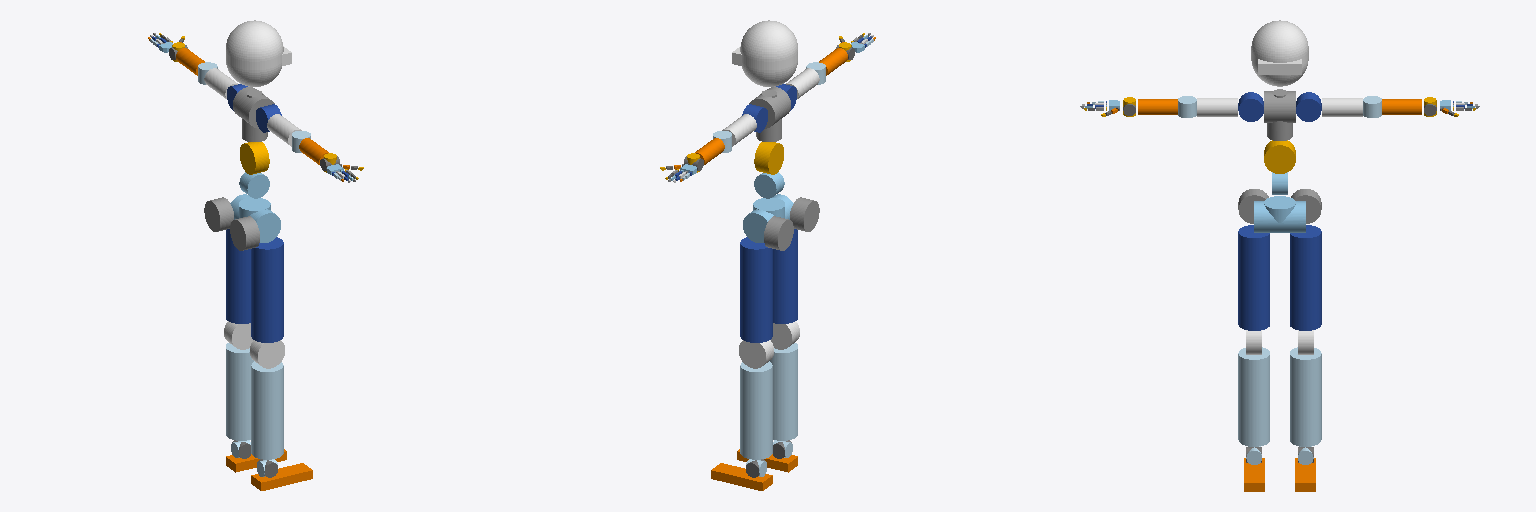
--- Render facts (derived) ---
3 views of the same robot in one strip: view 1: azimuth 30°, elevation 25°; view 2: azimuth 150°, elevation 25°; view 3: azimuth 270°, elevation 25° (orthographic).
Robot: miku — 75 links, 74 joints (74 revolute); root link pelvis; default pose: every joint at zero.
Links seen in each view (by area): view 1: head, right_hip_roll, right_knee_pitch, left_knee_pitch, left_hip_roll, pelvis, torso, right_foot, right_hip_pitch, waist_pitch, left_hip_pitch, right_hip_yaw (+4 smaller); view 2: head, left_hip_roll, left_knee_pitch, right_knee_pitch, right_hip_roll, pelvis, torso, left_foot, left_hip_pitch, waist_pitch, right_hip_pitch, left_hip_yaw (+4 smaller); view 3: left_hip_roll, right_hip_roll, head, left_knee_pitch, right_knee_pitch, pelvis, torso, waist_pitch, left_shoulder_roll, right_shoulder_roll, left_shoulder_pitch, left_elbow_pitch (+6 smaller).
Boxes of the visible links, x1,y1,x2,y2 form: head: (226,20,291,86); right_hip_roll: (251,237,283,342); right_knee_pitch: (251,361,283,459); left_knee_pitch: (226,343,253,440); left_hip_roll: (226,229,250,323); pelvis: (230,194,280,242); torso: (233,87,274,141); right_foot: (251,463,312,490); right_hip_pitch: (230,216,259,250); waist_pitch: (240,142,269,174); left_hip_pitch: (204,197,233,231); right_hip_yaw: (250,340,284,368); head: (732,20,797,86); left_hip_roll: (740,237,772,342); left_knee_pitch: (740,361,772,459); right_knee_pitch: (770,343,797,440); right_hip_roll: (773,229,797,323); pelvis: (743,194,793,242); torso: (749,87,790,141); left_foot: (711,463,772,490); left_hip_pitch: (764,216,793,250); waist_pitch: (754,142,783,174); right_hip_pitch: (790,197,819,231); left_hip_yaw: (739,340,773,368); left_hip_roll: (1290,225,1321,330); right_hip_roll: (1238,225,1269,330); head: (1251,20,1308,86); left_knee_pitch: (1290,347,1321,446); right_knee_pitch: (1238,347,1269,446); pelvis: (1254,196,1305,232); torso: (1264,89,1295,140); waist_pitch: (1264,140,1295,173); left_shoulder_roll: (1322,98,1362,116); right_shoulder_roll: (1197,98,1237,116); left_shoulder_pitch: (1296,92,1321,121); left_elbow_pitch: (1382,99,1421,114).
Bounding box of the posed robot: 0.25 × 1.25 × 1.55 m (x, y, z).
Meshes: 75 distinct files referenced, 75 mesh visuals loaded (75 binary STL).

The robot description file, URDF, robot "miku":
<?xml version="1.0" ?>
<!-- Generated using onshape-to-robot -->
<!-- Onshape document_id: e9ee61a2e2678af2088d9f31 -->
<robot name="miku">
  <!-- Link pelvis -->
  <link name="pelvis">
    <inertial>
      <origin xyz="8.977e-09 -0 0.00186483" rpy="0 0 0"/>
      <mass value="1.63184"/>
      <inertia ixx="0.00445142" ixy="4.71e-10" ixz="-1.682e-09" iyy="0.00217002" iyz="0" izz="0.00442459"/>
    </inertial>
    <!-- Part pelvis_parts -->
    <collision>
      <origin xyz="0 0 0.05" rpy="0 -0 -1.5708"/>
      <geometry>
        <cylinder length="0.1" radius="0.05"/>
      </geometry>
    </collision>
    <collision>
      <origin xyz="0 0 0" rpy="1.5708 1.5708 0"/>
      <geometry>
        <cylinder length="0.16" radius="0.05"/>
      </geometry>
    </collision>
    <visual>
      <origin xyz="8.977e-09 -0 0.00186483" rpy="0 -0 0"/>
      <geometry>
        <mesh filename="../meshes/pelvis_visual.stl"/>
      </geometry>
      <material name="pelvis_parts_material">
        <color rgba="0.615686 0.811765 0.929412 1"/>
      </material>
    </visual>
  </link>
  <!-- Link left_hip_pitch -->
  <link name="left_hip_pitch">
    <inertial>
      <origin xyz="-0.08 -0 -0" rpy="0 0 0"/>
      <mass value="0.486947"/>
      <inertia ixx="0.000608684" ixy="0" ixz="-0" iyy="0.000405789" iyz="0" izz="0.000405789"/>
    </inertial>
    <!-- Part left_hip_pitch_parts -->
    <visual>
      <origin xyz="-0.08 -0 0" rpy="1.5708 0 0"/>
      <geometry>
        <mesh filename="../meshes/left_hip_pitch_visual.stl"/>
      </geometry>
      <material name="left_hip_pitch_parts_material">
        <color rgba="0.647059 0.647059 0.647059 1"/>
      </material>
    </visual>
  </link>
  <!-- Link left_hip_roll -->
  <link name="left_hip_roll">
    <inertial>
      <origin xyz="0 0.21 -0" rpy="0 0 0"/>
      <mass value="3.11646"/>
      <inertia ixx="0.0285416" ixy="-0" ixz="0" iyy="0.00389557" iyz="0" izz="0.0285416"/>
    </inertial>
    <!-- Part left_hip_roll_parts -->
    <collision>
      <origin xyz="0 0.21 -0" rpy="1.5708 -0 -0"/>
      <geometry>
        <cylinder length="0.2" radius="0.05"/>
      </geometry>
    </collision>
    <visual>
      <origin xyz="0 0.21 -0" rpy="1.5708 -1.5708 0"/>
      <geometry>
        <mesh filename="../meshes/left_hip_roll_visual.stl"/>
      </geometry>
      <material name="left_hip_roll_parts_material">
        <color rgba="0.231373 0.380392 0.705882 1"/>
      </material>
    </visual>
  </link>
  <!-- Link left_hip_yaw -->
  <link name="left_hip_yaw">
    <inertial>
      <origin xyz="-0 -0 -0.42" rpy="0 0 0"/>
      <mass value="0.486947"/>
      <inertia ixx="0.000405789" ixy="0" ixz="-0" iyy="0.000608684" iyz="-0" izz="0.000405789"/>
    </inertial>
    <!-- Part left_hip_yaw_parts -->
    <visual>
      <origin xyz="-0 -0 -0.42" rpy="0 -0 0"/>
      <geometry>
        <mesh filename="../meshes/left_hip_yaw_visual.stl"/>
      </geometry>
      <material name="left_hip_yaw_parts_material">
        <color rgba="0.917647 0.917647 0.917647 1"/>
      </material>
    </visual>
  </link>
  <!-- Link left_knee_pitch -->
  <link name="left_knee_pitch">
    <inertial>
      <origin xyz="0 0.2 -0" rpy="0 0 0"/>
      <mass value="2.92168"/>
      <inertia ixx="0.0237387" ixy="0" ixz="0" iyy="0.0036521" iyz="0" izz="0.0237387"/>
    </inertial>
    <!-- Part left_knee_pitch_parts -->
    <collision>
      <origin xyz="0 0.2 -0" rpy="1.5708 1.5708 0"/>
      <geometry>
        <cylinder length="0.16" radius="0.05"/>
      </geometry>
    </collision>
    <visual>
      <origin xyz="0 0.2 -0" rpy="1.5708 -0 0"/>
      <geometry>
        <mesh filename="../meshes/left_knee_pitch_visual.stl"/>
      </geometry>
      <material name="left_knee_pitch_parts_material">
        <color rgba="0.768627 0.886275 0.952941 1"/>
      </material>
    </visual>
  </link>
  <!-- Link left_ankle_yaw -->
  <link name="left_ankle_yaw">
    <inertial>
      <origin xyz="0 -0 0" rpy="0 0 0"/>
      <mass value="0.121737"/>
      <inertia ixx="3.80427e-05" ixy="-0" ixz="-0" iyy="4.43832e-05" iyz="0" izz="4.43832e-05"/>
    </inertial>
    <!-- Part left_ankle_yaw_parts -->
    <visual>
      <origin xyz="0 -0 0" rpy="0 0 0"/>
      <geometry>
        <mesh filename="../meshes/left_ankle_yaw_visual.stl"/>
      </geometry>
      <material name="left_ankle_yaw_parts_material">
        <color rgba="0.768627 0.886275 0.952941 1"/>
      </material>
    </visual>
  </link>
  <!-- Link left_ankle_roll -->
  <link name="left_ankle_roll">
    <inertial>
      <origin xyz="0 -0 0" rpy="0 0 0"/>
      <mass value="0.121737"/>
      <inertia ixx="3.80427e-05" ixy="-0" ixz="-0" iyy="4.43832e-05" iyz="-0" izz="4.43832e-05"/>
    </inertial>
    <!-- Part left_ankle_roll_parts -->
    <visual>
      <origin xyz="0 -0 0" rpy="1.5708 -1.5708 0"/>
      <geometry>
        <mesh filename="../meshes/left_ankle_roll_visual.stl"/>
      </geometry>
      <material name="left_ankle_roll_parts_material">
        <color rgba="0.498039 0.498039 0.498039 1"/>
      </material>
    </visual>
  </link>
  <!-- Link left_foot -->
  <link name="left_foot">
    <inertial>
      <origin xyz="0.0525 0.045 -0" rpy="0 0 0"/>
      <mass value="0.433566"/>
      <inertia ixx="0.000175919" ixy="-0" ixz="-0" iyy="0.00137997" iyz="-0" izz="0.00126908"/>
    </inertial>
    <!-- Part left_foot_parts -->
    <collision>
      <origin xyz="0.052 0.045 -0" rpy="1.5708 1.5708 0"/>
      <geometry>
        <box size="0.063 0.185 0.03"/>
      </geometry>
    </collision>
    <visual>
      <origin xyz="0.0525 0.045 -0" rpy="1.5708 -0 0"/>
      <geometry>
        <mesh filename="../meshes/left_foot_visual.stl"/>
      </geometry>
      <material name="left_foot_parts_material">
        <color rgba="0.972549 0.529412 0.00392157 1"/>
      </material>
    </visual>
  </link>
  <!-- Joint from left_ankle_roll to left_foot -->
  <joint name="left_ankle_pitch" type="revolute">
    <origin xyz="0 -0 0" rpy="0 -1.5708 0"/>
    <parent link="left_ankle_roll"/>
    <child link="left_foot"/>
    <axis xyz="0 0 1"/>
    <limit effort="100" velocity="100" lower="-0.785398" upper="0.785398"/>
    <joint_properties friction="0.1"/>
  </joint>
  <!-- Joint from left_ankle_yaw to left_ankle_roll -->
  <joint name="left_ankle_roll" type="revolute">
    <origin xyz="0 0 0" rpy="-1.5708 -0 -1.5708"/>
    <parent link="left_ankle_yaw"/>
    <child link="left_ankle_roll"/>
    <axis xyz="0 0 1"/>
    <limit effort="100" velocity="100" lower="-0.349066" upper="0.349066"/>
    <joint_properties friction="0.1"/>
  </joint>
  <!-- Joint from left_knee_pitch to left_ankle_yaw -->
  <joint name="left_ankle_yaw" type="revolute">
    <origin xyz="0 0.4 0" rpy="1.5708 0 0"/>
    <parent link="left_knee_pitch"/>
    <child link="left_ankle_yaw"/>
    <axis xyz="0 0 1"/>
    <limit effort="100" velocity="100" lower="-0.785398" upper="0.785398"/>
    <joint_properties friction="0.1"/>
  </joint>
  <!-- Joint from left_hip_yaw to left_knee_pitch -->
  <joint name="left_knee_pitch" type="revolute">
    <origin xyz="-0 0 -0.42" rpy="-1.5708 -0 -0"/>
    <parent link="left_hip_yaw"/>
    <child link="left_knee_pitch"/>
    <axis xyz="0 0 1"/>
    <limit effort="100" velocity="100" lower="0" upper="2.35619"/>
    <joint_properties friction="0.1"/>
  </joint>
  <!-- Joint from left_hip_roll to left_hip_yaw -->
  <joint name="left_hip_yaw" type="revolute">
    <origin xyz="0 0 -0" rpy="1.5708 -1.5708 0"/>
    <parent link="left_hip_roll"/>
    <child link="left_hip_yaw"/>
    <axis xyz="0 0 1"/>
    <limit effort="100" velocity="100" lower="-0.785398" upper="0.785398"/>
    <joint_properties friction="0.1"/>
  </joint>
  <!-- Joint from left_hip_pitch to left_hip_roll -->
  <joint name="left_hip_roll" type="revolute">
    <origin xyz="0 -0 -0" rpy="0 1.5708 0"/>
    <parent link="left_hip_pitch"/>
    <child link="left_hip_roll"/>
    <axis xyz="0 0 1"/>
    <limit effort="100" velocity="100" lower="-0.261799" upper="1.5708"/>
    <joint_properties friction="0.1"/>
  </joint>
  <!-- Joint from pelvis to left_hip_pitch -->
  <joint name="left_hip_pitch" type="revolute">
    <origin xyz="-0 0.08 0" rpy="-1.5708 -0 0"/>
    <parent link="pelvis"/>
    <child link="left_hip_pitch"/>
    <axis xyz="0 0 1"/>
    <limit effort="100" velocity="100" lower="-2.35619" upper="0.785398"/>
    <joint_properties friction="0.1"/>
  </joint>
  <!-- Link right_hip_pitch -->
  <link name="right_hip_pitch">
    <inertial>
      <origin xyz="-0.08 -0 0" rpy="0 0 0"/>
      <mass value="0.486947"/>
      <inertia ixx="0.000608684" ixy="-0" ixz="0" iyy="0.000405789" iyz="0" izz="0.000405789"/>
    </inertial>
    <!-- Part right_hip_pitch_parts -->
    <visual>
      <origin xyz="-0.08 -0 0" rpy="1.5708 0 -0"/>
      <geometry>
        <mesh filename="../meshes/right_hip_pitch_visual.stl"/>
      </geometry>
      <material name="right_hip_pitch_parts_material">
        <color rgba="0.647059 0.647059 0.647059 1"/>
      </material>
    </visual>
  </link>
  <!-- Link right_hip_roll -->
  <link name="right_hip_roll">
    <inertial>
      <origin xyz="-0 0.21 -0" rpy="0 0 0"/>
      <mass value="3.11646"/>
      <inertia ixx="0.0285416" ixy="0" ixz="-0" iyy="0.00389557" iyz="-0" izz="0.0285416"/>
    </inertial>
    <!-- Part right_hip_roll_parts -->
    <collision>
      <origin xyz="-0 0.21 -0" rpy="1.5708 -0 0"/>
      <geometry>
        <cylinder length="0.2" radius="0.05"/>
      </geometry>
    </collision>
    <visual>
      <origin xyz="-0 0.21 -0" rpy="1.5708 -1.5708 0"/>
      <geometry>
        <mesh filename="../meshes/right_hip_roll_visual.stl"/>
      </geometry>
      <material name="right_hip_roll_parts_material">
        <color rgba="0.231373 0.380392 0.705882 1"/>
      </material>
    </visual>
  </link>
  <!-- Link right_hip_yaw -->
  <link name="right_hip_yaw">
    <inertial>
      <origin xyz="-0 0 -0.42" rpy="0 0 0"/>
      <mass value="0.486947"/>
      <inertia ixx="0.000405789" ixy="-0" ixz="0" iyy="0.000608684" iyz="0" izz="0.000405789"/>
    </inertial>
    <!-- Part right_hip_yaw_parts -->
    <visual>
      <origin xyz="-0 0 -0.42" rpy="0 0 0"/>
      <geometry>
        <mesh filename="../meshes/right_hip_yaw_visual.stl"/>
      </geometry>
      <material name="right_hip_yaw_parts_material">
        <color rgba="0.917647 0.917647 0.917647 1"/>
      </material>
    </visual>
  </link>
  <!-- Link right_knee_pitch -->
  <link name="right_knee_pitch">
    <inertial>
      <origin xyz="0 0.2 -0" rpy="0 0 0"/>
      <mass value="2.92168"/>
      <inertia ixx="0.0237387" ixy="-0" ixz="-0" iyy="0.0036521" iyz="0" izz="0.0237387"/>
    </inertial>
    <!-- Part right_knee_pitch_parts -->
    <collision>
      <origin xyz="0 0.2 -0" rpy="1.5708 1.5708 0"/>
      <geometry>
        <cylinder length="0.16" radius="0.05"/>
      </geometry>
    </collision>
    <visual>
      <origin xyz="0 0.2 -0" rpy="1.5708 -0 0"/>
      <geometry>
        <mesh filename="../meshes/right_knee_pitch_visual.stl"/>
      </geometry>
      <material name="right_knee_pitch_parts_material">
        <color rgba="0.768627 0.886275 0.952941 1"/>
      </material>
    </visual>
  </link>
  <!-- Link right_ankle_yaw -->
  <link name="right_ankle_yaw">
    <inertial>
      <origin xyz="0 -0 0" rpy="0 0 0"/>
      <mass value="0.121737"/>
      <inertia ixx="3.80427e-05" ixy="-0" ixz="-0" iyy="4.43832e-05" iyz="-0" izz="4.43832e-05"/>
    </inertial>
    <!-- Part right_ankle_yaw_parts -->
    <visual>
      <origin xyz="0 -0 0" rpy="0 -0 0"/>
      <geometry>
        <mesh filename="../meshes/right_ankle_yaw_visual.stl"/>
      </geometry>
      <material name="right_ankle_yaw_parts_material">
        <color rgba="0.768627 0.886275 0.952941 1"/>
      </material>
    </visual>
  </link>
  <!-- Link right_ankle_roll -->
  <link name="right_ankle_roll">
    <inertial>
      <origin xyz="0 0 -0" rpy="0 0 0"/>
      <mass value="0.121737"/>
      <inertia ixx="3.80427e-05" ixy="0" ixz="0" iyy="4.43832e-05" iyz="0" izz="4.43832e-05"/>
    </inertial>
    <!-- Part right_ankle_roll_parts -->
    <visual>
      <origin xyz="0 0 -0" rpy="1.5708 -1.5708 0"/>
      <geometry>
        <mesh filename="../meshes/right_ankle_roll_visual.stl"/>
      </geometry>
      <material name="right_ankle_roll_parts_material">
        <color rgba="0.498039 0.498039 0.498039 1"/>
      </material>
    </visual>
  </link>
  <!-- Link right_foot -->
  <link name="right_foot">
    <inertial>
      <origin xyz="0.0525 0.045 -0" rpy="0 0 0"/>
      <mass value="0.433566"/>
      <inertia ixx="0.000175919" ixy="0" ixz="0" iyy="0.00137997" iyz="-0" izz="0.00126908"/>
    </inertial>
    <!-- Part right_foot_parts -->
    <collision>
      <origin xyz="0.052 0.045 -0" rpy="1.5708 1.5708 0"/>
      <geometry>
        <box size="0.063 0.185 0.03"/>
      </geometry>
    </collision>
    <visual>
      <origin xyz="0.0525 0.045 -0" rpy="1.5708 0 0"/>
      <geometry>
        <mesh filename="../meshes/right_foot_visual.stl"/>
      </geometry>
      <material name="right_foot_parts_material">
        <color rgba="0.972549 0.529412 0.00392157 1"/>
      </material>
    </visual>
  </link>
  <!-- Joint from right_ankle_roll to right_foot -->
  <joint name="right_ankle_pitch" type="revolute">
    <origin xyz="0 0 -0" rpy="-0 -1.5708 0"/>
    <parent link="right_ankle_roll"/>
    <child link="right_foot"/>
    <axis xyz="0 0 1"/>
    <limit effort="100" velocity="100" lower="-0.785398" upper="0.785398"/>
    <joint_properties friction="0.1"/>
  </joint>
  <!-- Joint from right_ankle_yaw to right_ankle_roll -->
  <joint name="right_ankle_roll" type="revolute">
    <origin xyz="0 0 0" rpy="-1.5708 0 -1.5708"/>
    <parent link="right_ankle_yaw"/>
    <child link="right_ankle_roll"/>
    <axis xyz="0 0 1"/>
    <limit effort="100" velocity="100" lower="-0.349066" upper="0.349066"/>
    <joint_properties friction="0.1"/>
  </joint>
  <!-- Joint from right_knee_pitch to right_ankle_yaw -->
  <joint name="right_ankle_yaw" type="revolute">
    <origin xyz="0 0.4 0" rpy="1.5708 -0 0"/>
    <parent link="right_knee_pitch"/>
    <child link="right_ankle_yaw"/>
    <axis xyz="0 0 1"/>
    <limit effort="100" velocity="100" lower="-0.785398" upper="0.785398"/>
    <joint_properties friction="0.1"/>
  </joint>
  <!-- Joint from right_hip_yaw to right_knee_pitch -->
  <joint name="right_knee_pitch" type="revolute">
    <origin xyz="-0 -0 -0.42" rpy="-1.5708 0 0"/>
    <parent link="right_hip_yaw"/>
    <child link="right_knee_pitch"/>
    <axis xyz="0 0 1"/>
    <limit effort="100" velocity="100" lower="0" upper="2.35619"/>
    <joint_properties friction="0.1"/>
  </joint>
  <!-- Joint from right_hip_roll to right_hip_yaw -->
  <joint name="right_hip_yaw" type="revolute">
    <origin xyz="0 0 0" rpy="1.5708 -1.5708 0"/>
    <parent link="right_hip_roll"/>
    <child link="right_hip_yaw"/>
    <axis xyz="0 0 1"/>
    <limit effort="100" velocity="100" lower="-0.785398" upper="0.785398"/>
    <joint_properties friction="0.1"/>
  </joint>
  <!-- Joint from right_hip_pitch to right_hip_roll -->
  <joint name="right_hip_roll" type="revolute">
    <origin xyz="-0 -0 0" rpy="0 1.5708 0"/>
    <parent link="right_hip_pitch"/>
    <child link="right_hip_roll"/>
    <axis xyz="0 0 1"/>
    <limit effort="100" velocity="100" lower="-1.5708" upper="0.261799"/>
    <joint_properties friction="0.1"/>
  </joint>
  <!-- Joint from pelvis to right_hip_pitch -->
  <joint name="right_hip_pitch" type="revolute">
    <origin xyz="0 -0.08 0" rpy="-1.5708 0 0"/>
    <parent link="pelvis"/>
    <child link="right_hip_pitch"/>
    <axis xyz="0 0 1"/>
    <limit effort="100" velocity="100" lower="-2.35619" upper="0.785398"/>
    <joint_properties friction="0.1"/>
  </joint>
  <!-- Link waist_yaw -->
  <link name="waist_yaw">
    <inertial>
      <origin xyz="0 0 -0" rpy="0 0 0"/>
      <mass value="0.311646"/>
      <inertia ixx="0.000189585" ixy="0" ixz="0" iyy="0.000249317" iyz="0" izz="0.000189585"/>
    </inertial>
    <!-- Part waist_yaw_parts -->
    <visual>
      <origin xyz="0 0 -0" rpy="0 0 -0"/>
      <geometry>
        <mesh filename="../meshes/waist_yaw_visual.stl"/>
      </geometry>
      <material name="waist_yaw_parts_material">
        <color rgba="0.615686 0.811765 0.929412 1"/>
      </material>
    </visual>
  </link>
  <!-- Link waist_pitch -->
  <link name="waist_pitch">
    <inertial>
      <origin xyz="-0 0.09 -0" rpy="0 0 0"/>
      <mass value="0.486947"/>
      <inertia ixx="0.000608684" ixy="0" ixz="0" iyy="0.000405789" iyz="-0" izz="0.000405789"/>
    </inertial>
    <!-- Part waist_pitch_parts -->
    <visual>
      <origin xyz="-0 0.09 -0" rpy="1.5708 0 -3.14159"/>
      <geometry>
        <mesh filename="../meshes/waist_pitch_visual.stl"/>
      </geometry>
      <material name="waist_pitch_parts_material">
        <color rgba="0.980392 0.713725 0.00392157 1"/>
      </material>
    </visual>
  </link>
  <!-- Link torso -->
  <link name="torso">
    <inertial>
      <origin xyz="-3.7508e-08 0.15145 4.09014e-07" rpy="0 0 0"/>
      <mass value="1.31699"/>
      <inertia ixx="0.0027968" ixy="-2.32e-09" ixz="-3.9e-09" iyy="0.00170098" iyz="-2.357e-08" izz="0.00298334"/>
    </inertial>
    <!-- Part torso_parts -->
    <collision>
      <origin xyz="0 0.14 0" rpy="1.5708 -0 -3.14159"/>
      <geometry>
        <cylinder length="0.12" radius="0.04"/>
      </geometry>
    </collision>
    <collision>
      <origin xyz="0 0.17 0" rpy="1.5708 -0 -1.5708"/>
      <geometry>
        <cylinder length="0.08" radius="0.05"/>
      </geometry>
    </collision>
    <visual>
      <origin xyz="-3.7508e-08 0.15145 4.09014e-07" rpy="-1.5708 -1.5708 0"/>
      <geometry>
        <mesh filename="../meshes/torso_visual.stl"/>
      </geometry>
      <material name="torso_parts_material">
        <color rgba="0.647059 0.647059 0.647059 1"/>
      </material>
    </visual>
  </link>
  <!-- Link left_shoulder_pitch -->
  <link name="left_shoulder_pitch">
    <inertial>
      <origin xyz="-0 0 -0" rpy="0 0 0"/>
      <mass value="0.311646"/>
      <inertia ixx="0.000249317" ixy="-0" ixz="-0" iyy="0.000189585" iyz="0" izz="0.000189585"/>
    </inertial>
    <!-- Part left_shoulder_pitch_parts -->
    <visual>
      <origin xyz="-0 0 -0" rpy="1.5708 0 0"/>
      <geometry>
        <mesh filename="../meshes/left_shoulder_pitch_visual.stl"/>
      </geometry>
      <material name="left_shoulder_pitch_parts_material">
        <color rgba="0.231373 0.380392 0.705882 1"/>
      </material>
    </visual>
  </link>
  <!-- Link left_shoulder_roll -->
  <link name="left_shoulder_roll">
    <inertial>
      <origin xyz="0 0.105 -0" rpy="0 0 0"/>
      <mass value="0.455782"/>
      <inertia ixx="0.000744444" ixy="-0" ixz="0" iyy="0.000205102" iyz="0" izz="0.000744444"/>
    </inertial>
    <!-- Part left_shoulder_roll_parts -->
    <collision>
      <origin xyz="0 0.105 -0" rpy="1.5708 -0 -0"/>
      <geometry>
        <cylinder length="0.08" radius="0.03"/>
      </geometry>
    </collision>
    <visual>
      <origin xyz="0 0.105 -0" rpy="0 -1.5708 0"/>
      <geometry>
        <mesh filename="../meshes/left_shoulder_roll_visual.stl"/>
      </geometry>
      <material name="left_shoulder_roll_parts_material">
        <color rgba="0.917647 0.917647 0.917647 1"/>
      </material>
    </visual>
  </link>
  <!-- Link left_shoulder_yaw -->
  <link name="left_shoulder_yaw">
    <inertial>
      <origin xyz="0 0 0.2" rpy="0 0 0"/>
      <mass value="0.175301"/>
      <inertia ixx="7.59637e-05" ixy="-0" ixz="0" iyy="7.88854e-05" iyz="-0" izz="7.59637e-05"/>
    </inertial>
    <!-- Part left_shoulder_yaw_parts -->
    <visual>
      <origin xyz="0 0 0.2" rpy="1.5708 0 -0"/>
      <geometry>
        <mesh filename="../meshes/left_shoulder_yaw_visual.stl"/>
      </geometry>
      <material name="left_shoulder_yaw_parts_material">
        <color rgba="0.768627 0.886275 0.952941 1"/>
      </material>
    </visual>
  </link>
  <!-- Link left_elbow_pitch -->
  <link name="left_elbow_pitch">
    <inertial>
      <origin xyz="0 0.0925 -0" rpy="0 0 0"/>
      <mass value="0.304342"/>
      <inertia ixx="0.000443832" ixy="-0" ixz="0" iyy="9.51068e-05" iyz="-0" izz="0.000443832"/>
    </inertial>
    <!-- Part left_elbow_pitch_parts -->
    <collision>
      <origin xyz="0 0.095 -0" rpy="1.5708 1.5708 0"/>
      <geometry>
        <cylinder length="0.08" radius="0.025"/>
      </geometry>
    </collision>
    <visual>
      <origin xyz="0 0.0925 -0" rpy="-0 0 -0"/>
      <geometry>
        <mesh filename="../meshes/left_elbow_pitch_visual.stl"/>
      </geometry>
      <material name="left_elbow_pitch_parts_material">
        <color rgba="0.972549 0.529412 0.00392157 1"/>
      </material>
    </visual>
  </link>
  <!-- Link left_wrist_yaw -->
  <link name="left_wrist_yaw">
    <inertial>
      <origin xyz="0 0 -0" rpy="0 0 0"/>
      <mass value="0.0779115"/>
      <inertia ixx="2.40227e-05" ixy="0" ixz="0" iyy="1.55823e-05" iyz="0" izz="2.40227e-05"/>
    </inertial>
    <!-- Part left_wrist_yaw_parts -->
    <visual>
      <origin xyz="0 0 -0" rpy="1.5708 0 -0"/>
      <geometry>
        <mesh filename="../meshes/left_wrist_yaw_visual.stl"/>
      </geometry>
      <material name="left_wrist_yaw_parts_material">
        <color rgba="0.980392 0.713725 0.00392157 1"/>
      </material>
    </visual>
  </link>
  <!-- Link left_wrist_roll -->
  <link name="left_wrist_roll">
    <inertial>
      <origin xyz="0 -0 0" rpy="0 0 0"/>
      <mass value="0.0779115"/>
      <inertia ixx="1.55823e-05" ixy="0" ixz="0" iyy="2.40227e-05" iyz="0" izz="2.40227e-05"/>
    </inertial>
    <!-- Part left_wrist_roll_parts -->
    <visual>
      <origin xyz="0 -0 0" rpy="-0 0 -0"/>
      <geometry>
        <mesh filename="../meshes/left_wrist_roll_visual.stl"/>
      </geometry>
      <material name="left_wrist_roll_parts_material">
        <color rgba="0.498039 0.498039 0.498039 1"/>
      </material>
    </visual>
  </link>
  <!-- Link left_hand -->
  <link name="left_hand">
    <inertial>
      <origin xyz="0 0.0479645 -0.0118716" rpy="0 0 0"/>
      <mass value="0.028365"/>
      <inertia ixx="7.37812e-06" ixy="-0" ixz="0" iyy="5.11736e-06" iyz="2.58217e-07" izz="3.32444e-06"/>
    </inertial>
    <!-- Part left_hand_parts -->
    <collision>
      <origin xyz="0 0.08 0" rpy="1.5708 0 -1.5708"/>
      <geometry>
        <box size="0.1 0.07 0.015"/>
      </geometry>
    </collision>
    <visual>
      <origin xyz="0 0.0479645 -0.0118716" rpy="-0 -1.5708 0"/>
      <geometry>
        <mesh filename="../meshes/left_hand_visual.stl"/>
      </geometry>
      <material name="left_hand_parts_material">
        <color rgba="0.615686 0.811765 0.929412 1"/>
      </material>
    </visual>
  </link>
  <!-- Link left_finger_1_j1 -->
  <link name="left_finger_1_j1">
    <inertial>
      <origin xyz="0 0.0025 0" rpy="0 0 0"/>
      <mass value="0.000744"/>
      <inertia ixx="1.0478e-08" ixy="0" ixz="-0" iyy="1.5128e-08" iyz="0" izz="7.75e-09"/>
    </inertial>
    <!-- Part left_finger_1_j1_parts -->
    <visual>
      <origin xyz="0 0.0025 0" rpy="-1.5708 -0.785398 1.5708"/>
      <geometry>
        <mesh filename="../meshes/left_finger_1_j1_visual.stl"/>
      </geometry>
      <material name="left_finger_1_j1_parts_material">
        <color rgba="0.498039 0.498039 0.498039 1"/>
      </material>
    </visual>
  </link>
  <!-- Link left_finger_1_j2 -->
  <link name="left_finger_1_j2">
    <inertial>
      <origin xyz="-0 0.01 0" rpy="0 0 0"/>
      <mass value="0.002976"/>
      <inertia ixx="1.24e-07" ixy="-0" ixz="0" iyy="6.0512e-08" iyz="0" izz="1.34912e-07"/>
    </inertial>
    <!-- Part left_finger_1_j2_parts -->
    <visual>
      <origin xyz="-0 0.01 0" rpy="-0 -0 0.785398"/>
      <geometry>
        <mesh filename="../meshes/left_finger_1_j2_visual.stl"/>
      </geometry>
      <material name="left_finger_1_j2_parts_material">
        <color rgba="0.972549 0.529412 0.00392157 1"/>
      </material>
    </visual>
  </link>
  <!-- Link left_finger_1_j3 -->
  <link name="left_finger_1_j3">
    <inertial>
      <origin xyz="-0 0.01 -0" rpy="0 0 0"/>
      <mass value="0.001984"/>
      <inertia ixx="8.2667e-08" ixy="0" ixz="0" iyy="2.7115e-08" iyz="0" izz="7.6715e-08"/>
    </inertial>
    <!-- Part left_finger_1_j3_parts -->
    <visual>
      <origin xyz="-0 0.01 -0" rpy="-1.5708 -0.785398 1.5708"/>
      <geometry>
        <mesh filename="../meshes/left_finger_1_j3_visual.stl"/>
      </geometry>
      <material name="left_finger_1_j3_parts_material">
        <color rgba="0.498039 0.498039 0.498039 1"/>
      </material>
    </visual>
  </link>
  <!-- Link left_finger_1_j4 -->
  <link name="left_finger_1_j4">
    <inertial>
      <origin xyz="-0.000271318 0.00682171 0" rpy="0 0 0"/>
      <mass value="0.001333"/>
      <inertia ixx="3.2905e-08" ixy="2.247e-09" ixz="0" iyy="1.7887e-08" iyz="-0" izz="2.8576e-08"/>
    </inertial>
    <!-- Part left_finger_1_j4_parts -->
    <visual>
      <origin xyz="-0.000271318 0.00682171 0" rpy="-1.5708 -0.785398 1.5708"/>
      <geometry>
        <mesh filename="../meshes/left_finger_1_j4_visual.stl"/>
      </geometry>
      <material name="left_finger_1_j4_parts_material">
        <color rgba="0.980392 0.713725 0.00392157 1"/>
      </material>
    </visual>
  </link>
  <!-- Joint from left_finger_1_j3 to left_finger_1_j4 -->
  <joint name="left_finger1_j4" type="revolute">
    <origin xyz="0 0.025 0" rpy="-0 0 -0"/>
    <parent link="left_finger_1_j3"/>
    <child link="left_finger_1_j4"/>
    <axis xyz="0 0 1"/>
    <limit effort="100" velocity="100" lower="-1.91986" upper="0.0872665"/>
    <joint_properties friction="0.1"/>
  </joint>
  <!-- Joint from left_finger_1_j2 to left_finger_1_j3 -->
  <joint name="left_finger1_j3" type="revolute">
    <origin xyz="0 0.025 0" rpy="0 1.5708 0"/>
    <parent link="left_finger_1_j2"/>
    <child link="left_finger_1_j3"/>
    <axis xyz="0 0 1"/>
    <limit effort="100" velocity="100" lower="-1.91986" upper="0.0872665"/>
    <joint_properties friction="0.1"/>
  </joint>
  <!-- Joint from left_finger_1_j1 to left_finger_1_j2 -->
  <joint name="left_finger1_j2" type="revolute">
    <origin xyz="0 0.01 -0" rpy="0 -1.5708 0"/>
    <parent link="left_finger_1_j1"/>
    <child link="left_finger_1_j2"/>
    <axis xyz="0 0 1"/>
    <limit effort="100" velocity="100" lower="-0.349066" upper="0.349066"/>
    <joint_properties friction="0.1"/>
  </joint>
  <!-- Joint from left_hand to left_finger_1_j1 -->
  <joint name="left_finger1_j1" type="revolute">
    <origin xyz="0 0.035 0.015" rpy="0.785398 0 -0"/>
    <parent link="left_hand"/>
    <child link="left_finger_1_j1"/>
    <axis xyz="0 0 1"/>
    <limit effort="100" velocity="100" lower="-1.91986" upper="0.0872665"/>
    <joint_properties friction="0.1"/>
  </joint>
  <!-- Link left_finger_2_j1 -->
  <link name="left_finger_2_j1">
    <inertial>
      <origin xyz="0 0.0025 -0" rpy="0 0 0"/>
      <mass value="0.000496"/>
      <inertia ixx="3.679e-09" ixy="-0" ixz="0" iyy="6.779e-09" iyz="-0" izz="5.167e-09"/>
    </inertial>
    <!-- Part left_finger_2_j1_parts -->
    <visual>
      <origin xyz="0 0.0025 -0" rpy="-0 -1.5708 0"/>
      <geometry>
        <mesh filename="../meshes/left_finger_2_j1_visual.stl"/>
      </geometry>
      <material name="left_finger_2_j1_parts_material">
        <color rgba="0.980392 0.713725 0.00392157 1"/>
      </material>
    </visual>
  </link>
  <!-- Link left_finger_2_j2 -->
  <link name="left_finger_2_j2">
    <inertial>
      <origin xyz="0 0.0125 -0" rpy="0 0 0"/>
      <mass value="0.00248"/>
      <inertia ixx="1.49833e-07" ixy="0" ixz="0" iyy="3.3893e-08" iyz="-0" izz="1.42393e-07"/>
    </inertial>
    <!-- Part left_finger_2_j2_parts -->
    <visual>
      <origin xyz="0 0.0125 -0" rpy="-0 0 -0"/>
      <geometry>
        <mesh filename="../meshes/left_finger_2_j2_visual.stl"/>
      </geometry>
      <material name="left_finger_2_j2_parts_material">
        <color rgba="0.647059 0.647059 0.647059 1"/>
      </material>
    </visual>
  </link>
  <!-- Link left_finger_2_j3 -->
  <link name="left_finger_2_j3">
    <inertial>
      <origin xyz="0 0.01 0" rpy="0 0 0"/>
      <mass value="0.0011904"/>
      <inertia ixx="4.3251e-08" ixy="-0" ixz="0" iyy="9.92e-09" iyz="-0" izz="4.6029e-08"/>
    </inertial>
    <!-- Part left_finger_2_j3_parts -->
    <visual>
      <origin xyz="0 0.01 0" rpy="-0 -1.5708 0"/>
      <geometry>
        <mesh filename="../meshes/left_finger_2_j3_visual.stl"/>
      </geometry>
      <material name="left_finger_2_j3_parts_material">
        <color rgba="0.498039 0.498039 0.498039 1"/>
      </material>
    </visual>
  </link>
  <!-- Link left_finger_2_j4 -->
  <link name="left_finger_2_j4">
    <inertial>
      <origin xyz="-0.000432099 0.00438272 0" rpy="0 0 0"/>
      <mass value="0.0004185"/>
      <inertia ixx="3.877e-09" ixy="6.61e-10" ixz="0" iyy="2.909e-09" iyz="-0" izz="5.043e-09"/>
    </inertial>
    <!-- Part left_finger_2_j4_parts -->
    <visual>
      <origin xyz="-0.000432099 0.00438272 0" rpy="-0 -1.5708 0"/>
      <geometry>
        <mesh filename="../meshes/left_finger_2_j4_visual.stl"/>
      </geometry>
      <material name="left_finger_2_j4_parts_material">
        <color rgba="0.980392 0.713725 0.00392157 1"/>
      </material>
    </visual>
  </link>
  <!-- Joint from left_finger_2_j3 to left_finger_2_j4 -->
  <joint name="left_finger2_j4" type="revolute">
    <origin xyz="0 0.025 0" rpy="0 0 -0"/>
    <parent link="left_finger_2_j3"/>
    <child link="left_finger_2_j4"/>
    <axis xyz="0 0 1"/>
    <limit effort="100" velocity="100" lower="-1.91986" upper="0.0872665"/>
    <joint_properties friction="0.1"/>
  </joint>
  <!-- Joint from left_finger_2_j2 to left_finger_2_j3 -->
  <joint name="left_finger2_j3" type="revolute">
    <origin xyz="-0 0.03 0" rpy="0 1.5708 0"/>
    <parent link="left_finger_2_j2"/>
    <child link="left_finger_2_j3"/>
    <axis xyz="0 0 1"/>
    <limit effort="100" velocity="100" lower="-1.91986" upper="0.0872665"/>
    <joint_properties friction="0.1"/>
  </joint>
  <!-- Joint from left_finger_2_j1 to left_finger_2_j2 -->
  <joint name="left_finger2_j2" type="revolute">
    <origin xyz="0 0.01 0" rpy="0 -1.5708 0"/>
    <parent link="left_finger_2_j1"/>
    <child link="left_finger_2_j2"/>
    <axis xyz="0 0 1"/>
    <limit effort="100" velocity="100" lower="-0.349066" upper="0.349066"/>
    <joint_properties friction="0.1"/>
  </joint>
  <!-- Joint from left_hand to left_finger_2_j1 -->
  <joint name="left_finger2_j1" type="revolute">
    <origin xyz="0 0.07 0.015" rpy="-0 0 -0"/>
    <parent link="left_hand"/>
    <child link="left_finger_2_j1"/>
    <axis xyz="0 0 1"/>
    <limit effort="100" velocity="100" lower="-1.91986" upper="0.0872665"/>
    <joint_properties friction="0.1"/>
  </joint>
  <!-- Link left_finger_3_j1 -->
  <link name="left_finger_3_j1">
    <inertial>
      <origin xyz="0 0.0025 -0" rpy="0 0 0"/>
      <mass value="0.000496"/>
      <inertia ixx="3.679e-09" ixy="-0" ixz="0" iyy="6.779e-09" iyz="-0" izz="5.167e-09"/>
    </inertial>
    <!-- Part left_finger_3_j1_parts -->
    <visual>
      <origin xyz="0 0.0025 -0" rpy="-0 -1.5708 0"/>
      <geometry>
        <mesh filename="../meshes/left_finger_3_j1_visual.stl"/>
      </geometry>
      <material name="left_finger_3_j1_parts_material">
        <color rgba="0.615686 0.811765 0.929412 1"/>
      </material>
    </visual>
  </link>
  <!-- Link left_finger_3_j2 -->
  <link name="left_finger_3_j2">
    <inertial>
      <origin xyz="0 0.015 0" rpy="0 0 0"/>
      <mass value="0.002976"/>
      <inertia ixx="2.48e-07" ixy="0" ixz="-0" iyy="4.0672e-08" iyz="-0" izz="2.39072e-07"/>
    </inertial>
    <!-- Part left_finger_3_j2_parts -->
    <visual>
      <origin xyz="0 0.015 0" rpy="-0 0 -0"/>
      <geometry>
        <mesh filename="../meshes/left_finger_3_j2_visual.stl"/>
      </geometry>
      <material name="left_finger_3_j2_parts_material">
        <color rgba="0.231373 0.380392 0.705882 1"/>
      </material>
    </visual>
  </link>
  <!-- Link left_finger_3_j3 -->
  <link name="left_finger_3_j3">
    <inertial>
      <origin xyz="-0 0.0125 0" rpy="0 0 0"/>
      <mass value="0.001488"/>
      <inertia ixx="8.1964e-08" ixy="0" ixz="0" iyy="1.24e-08" iyz="0" izz="8.5436e-08"/>
    </inertial>
    <!-- Part left_finger_3_j3_parts -->
    <visual>
      <origin xyz="-0 0.0125 0" rpy="-0 -1.5708 0"/>
      <geometry>
        <mesh filename="../meshes/left_finger_3_j3_visual.stl"/>
      </geometry>
      <material name="left_finger_3_j3_parts_material">
        <color rgba="0.615686 0.811765 0.929412 1"/>
      </material>
    </visual>
  </link>
  <!-- Link left_finger_3_j4 -->
  <link name="left_finger_3_j4">
    <inertial>
      <origin xyz="-0.000432099 0.00438272 0" rpy="0 0 0"/>
      <mass value="0.0004185"/>
      <inertia ixx="3.877e-09" ixy="6.61e-10" ixz="0" iyy="2.909e-09" iyz="-0" izz="5.043e-09"/>
    </inertial>
    <!-- Part left_finger_3_j4_parts -->
    <visual>
      <origin xyz="-0.000432099 0.00438272 0" rpy="-0 -1.5708 0"/>
      <geometry>
        <mesh filename="../meshes/left_finger_3_j4_visual.stl"/>
      </geometry>
      <material name="left_finger_3_j4_parts_material">
        <color rgba="0.647059 0.647059 0.647059 1"/>
      </material>
    </visual>
  </link>
  <!-- Joint from left_finger_3_j3 to left_finger_3_j4 -->
  <joint name="left_finger3_j4" type="revolute">
    <origin xyz="0 0.03 0" rpy="-0 0 0"/>
    <parent link="left_finger_3_j3"/>
    <child link="left_finger_3_j4"/>
    <axis xyz="0 0 1"/>
    <limit effort="100" velocity="100" lower="-1.91986" upper="0.0872665"/>
    <joint_properties friction="0.1"/>
  </joint>
  <!-- Joint from left_finger_3_j2 to left_finger_3_j3 -->
  <joint name="left_finger3_j3" type="revolute">
    <origin xyz="0 0.035 0" rpy="-0 1.5708 0"/>
    <parent link="left_finger_3_j2"/>
    <child link="left_finger_3_j3"/>
    <axis xyz="0 0 1"/>
    <limit effort="100" velocity="100" lower="-1.91986" upper="0.0872665"/>
    <joint_properties friction="0.1"/>
  </joint>
  <!-- Joint from left_finger_3_j1 to left_finger_3_j2 -->
  <joint name="left_finger3_j2" type="revolute">
    <origin xyz="0 0.01 -0" rpy="-0 -1.5708 0"/>
    <parent link="left_finger_3_j1"/>
    <child link="left_finger_3_j2"/>
    <axis xyz="0 0 1"/>
    <limit effort="100" velocity="100" lower="-0.349066" upper="0.349066"/>
    <joint_properties friction="0.1"/>
  </joint>
  <!-- Joint from left_hand to left_finger_3_j1 -->
  <joint name="left_finger3_j1" type="revolute">
    <origin xyz="0 0.07 0" rpy="-0 0 -0"/>
    <parent link="left_hand"/>
    <child link="left_finger_3_j1"/>
    <axis xyz="0 0 1"/>
    <limit effort="100" velocity="100" lower="-1.91986" upper="0.0872665"/>
    <joint_properties friction="0.1"/>
  </joint>
  <!-- Link left_finger_4_j1 -->
  <link name="left_finger_4_j1">
    <inertial>
      <origin xyz="-0 0.0025 -0" rpy="0 0 0"/>
      <mass value="0.000496"/>
      <inertia ixx="3.679e-09" ixy="0" ixz="0" iyy="6.779e-09" iyz="0" izz="5.167e-09"/>
    </inertial>
    <!-- Part left_finger_4_j1_parts -->
    <visual>
      <origin xyz="-0 0.0025 -0" rpy="-0 -1.5708 0"/>
      <geometry>
        <mesh filename="../meshes/left_finger_4_j1_visual.stl"/>
      </geometry>
      <material name="left_finger_4_j1_parts_material">
        <color rgba="0.647059 0.647059 0.647059 1"/>
      </material>
    </visual>
  </link>
  <!-- Link left_finger_4_j2 -->
  <link name="left_finger_4_j2">
    <inertial>
      <origin xyz="-0 0.015 -0" rpy="0 0 0"/>
      <mass value="0.002976"/>
      <inertia ixx="2.48e-07" ixy="-0" ixz="0" iyy="4.0672e-08" iyz="-0" izz="2.39072e-07"/>
    </inertial>
    <!-- Part left_finger_4_j2_parts -->
    <visual>
      <origin xyz="-0 0.015 -0" rpy="-0 0 -0"/>
      <geometry>
        <mesh filename="../meshes/left_finger_4_j2_visual.stl"/>
      </geometry>
      <material name="left_finger_4_j2_parts_material">
        <color rgba="0.917647 0.917647 0.917647 1"/>
      </material>
    </visual>
  </link>
  <!-- Link left_finger_4_j3 -->
  <link name="left_finger_4_j3">
    <inertial>
      <origin xyz="0 0.01 0" rpy="0 0 0"/>
      <mass value="0.0011904"/>
      <inertia ixx="4.3251e-08" ixy="-0" ixz="-0" iyy="9.92e-09" iyz="-0" izz="4.6029e-08"/>
    </inertial>
    <!-- Part left_finger_4_j3_parts -->
    <visual>
      <origin xyz="0 0.01 0" rpy="-0 -1.5708 0"/>
      <geometry>
        <mesh filename="../meshes/left_finger_4_j3_visual.stl"/>
      </geometry>
      <material name="left_finger_4_j3_parts_material">
        <color rgba="0.231373 0.380392 0.705882 1"/>
      </material>
    </visual>
  </link>
  <!-- Link left_finger_4_j4 -->
  <link name="left_finger_4_j4">
    <inertial>
      <origin xyz="-0.000432099 0.00438272 0" rpy="0 0 0"/>
      <mass value="0.0004185"/>
      <inertia ixx="3.877e-09" ixy="6.61e-10" ixz="0" iyy="2.909e-09" iyz="-0" izz="5.043e-09"/>
    </inertial>
    <!-- Part left_finger_4_j4_parts -->
    <visual>
      <origin xyz="-0.000432099 0.00438272 0" rpy="-0 -1.5708 0"/>
      <geometry>
        <mesh filename="../meshes/left_finger_4_j4_visual.stl"/>
      </geometry>
      <material name="left_finger_4_j4_parts_material">
        <color rgba="0.917647 0.917647 0.917647 1"/>
      </material>
    </visual>
  </link>
  <!-- Joint from left_finger_4_j3 to left_finger_4_j4 -->
  <joint name="left_finger4_j4" type="revolute">
    <origin xyz="-0 0.025 0" rpy="0 -0 0"/>
    <parent link="left_finger_4_j3"/>
    <child link="left_finger_4_j4"/>
    <axis xyz="0 0 1"/>
    <limit effort="100" velocity="100" lower="-1.91986" upper="0.0872665"/>
    <joint_properties friction="0.1"/>
  </joint>
  <!-- Joint from left_finger_4_j2 to left_finger_4_j3 -->
  <joint name="left_finger4_j3" type="revolute">
    <origin xyz="-0 0.035 0" rpy="0 1.5708 0"/>
    <parent link="left_finger_4_j2"/>
    <child link="left_finger_4_j3"/>
    <axis xyz="0 0 1"/>
    <limit effort="100" velocity="100" lower="-1.91986" upper="0.0872665"/>
    <joint_properties friction="0.1"/>
  </joint>
  <!-- Joint from left_finger_4_j1 to left_finger_4_j2 -->
  <joint name="left_finger4_j2" type="revolute">
    <origin xyz="0 0.01 0" rpy="0 -1.5708 0"/>
    <parent link="left_finger_4_j1"/>
    <child link="left_finger_4_j2"/>
    <axis xyz="0 0 1"/>
    <limit effort="100" velocity="100" lower="-0.349066" upper="0.349066"/>
    <joint_properties friction="0.1"/>
  </joint>
  <!-- Joint from left_hand to left_finger_4_j1 -->
  <joint name="left_finger4_j1" type="revolute">
    <origin xyz="0 0.07 -0.015" rpy="-0 0 -0"/>
    <parent link="left_hand"/>
    <child link="left_finger_4_j1"/>
    <axis xyz="0 0 1"/>
    <limit effort="100" velocity="100" lower="-1.91986" upper="0.0872665"/>
    <joint_properties friction="0.1"/>
  </joint>
  <!-- Link left_finger_5_j1 -->
  <link name="left_finger_5_j1">
    <inertial>
      <origin xyz="-0 0.0025 -0" rpy="0 0 0"/>
      <mass value="0.000496"/>
      <inertia ixx="3.679e-09" ixy="0" ixz="0" iyy="6.779e-09" iyz="0" izz="5.167e-09"/>
    </inertial>
    <!-- Part left_finger_5_j1_parts -->
    <visual>
      <origin xyz="-0 0.0025 -0" rpy="-0 -1.5708 0"/>
      <geometry>
        <mesh filename="../meshes/left_finger_5_j1_visual.stl"/>
      </geometry>
      <material name="left_finger_5_j1_parts_material">
        <color rgba="0.231373 0.380392 0.705882 1"/>
      </material>
    </visual>
  </link>
  <!-- Link left_finger_5_j2 -->
  <link name="left_finger_5_j2">
    <inertial>
      <origin xyz="-0 0.01 -0" rpy="0 0 0"/>
      <mass value="0.001984"/>
      <inertia ixx="8.2667e-08" ixy="0" ixz="0" iyy="2.7115e-08" iyz="-0" izz="7.6715e-08"/>
    </inertial>
    <!-- Part left_finger_5_j2_parts -->
    <visual>
      <origin xyz="-0 0.01 -0" rpy="-0 0 -0"/>
      <geometry>
        <mesh filename="../meshes/left_finger_5_j2_visual.stl"/>
      </geometry>
      <material name="left_finger_5_j2_parts_material">
        <color rgba="0.768627 0.886275 0.952941 1"/>
      </material>
    </visual>
  </link>
  <!-- Link left_finger_5_j3 -->
  <link name="left_finger_5_j3">
    <inertial>
      <origin xyz="0 0.0075 0" rpy="0 0 0"/>
      <mass value="0.0008928"/>
      <inertia ixx="1.9418e-08" ixy="0" ixz="-0" iyy="7.44e-09" iyz="-0" izz="2.1502e-08"/>
    </inertial>
    <!-- Part left_finger_5_j3_parts -->
    <visual>
      <origin xyz="0 0.0075 0" rpy="-0 -1.5708 0"/>
      <geometry>
        <mesh filename="../meshes/left_finger_5_j3_visual.stl"/>
      </geometry>
      <material name="left_finger_5_j3_parts_material">
        <color rgba="0.768627 0.886275 0.952941 1"/>
      </material>
    </visual>
  </link>
  <!-- Link left_finger_5_j4 -->
  <link name="left_finger_5_j4">
    <inertial>
      <origin xyz="-0.000432099 0.00438272 0" rpy="0 0 0"/>
      <mass value="0.0004185"/>
      <inertia ixx="3.877e-09" ixy="6.61e-10" ixz="0" iyy="2.909e-09" iyz="-0" izz="5.043e-09"/>
    </inertial>
    <!-- Part left_finger_5_j4_parts -->
    <visual>
      <origin xyz="-0.000432099 0.00438272 0" rpy="-0 -1.5708 0"/>
      <geometry>
        <mesh filename="../meshes/left_finger_5_j4_visual.stl"/>
      </geometry>
      <material name="left_finger_5_j4_parts_material">
        <color rgba="0.972549 0.529412 0.00392157 1"/>
      </material>
    </visual>
  </link>
  <!-- Joint from left_finger_5_j3 to left_finger_5_j4 -->
  <joint name="left_finger5_j4" type="revolute">
    <origin xyz="-0 0.02 0" rpy="-0 0 -0"/>
    <parent link="left_finger_5_j3"/>
    <child link="left_finger_5_j4"/>
    <axis xyz="0 0 1"/>
    <limit effort="100" velocity="100" lower="-1.91986" upper="0.0872665"/>
    <joint_properties friction="0.1"/>
  </joint>
  <!-- Joint from left_finger_5_j2 to left_finger_5_j3 -->
  <joint name="left_finger5_j3" type="revolute">
    <origin xyz="0 0.025 0" rpy="0 1.5708 0"/>
    <parent link="left_finger_5_j2"/>
    <child link="left_finger_5_j3"/>
    <axis xyz="0 0 1"/>
    <limit effort="100" velocity="100" lower="-1.91986" upper="0.0872665"/>
    <joint_properties friction="0.1"/>
  </joint>
  <!-- Joint from left_finger_5_j1 to left_finger_5_j2 -->
  <joint name="left_finger5_j2" type="revolute">
    <origin xyz="0 0.01 -0" rpy="0 -1.5708 0"/>
    <parent link="left_finger_5_j1"/>
    <child link="left_finger_5_j2"/>
    <axis xyz="0 0 1"/>
    <limit effort="100" velocity="100" lower="-0.349066" upper="0.349066"/>
    <joint_properties friction="0.1"/>
  </joint>
  <!-- Joint from left_hand to left_finger_5_j1 -->
  <joint name="left_finger5_j1" type="revolute">
    <origin xyz="0 0.07 -0.03" rpy="-0 0 -0"/>
    <parent link="left_hand"/>
    <child link="left_finger_5_j1"/>
    <axis xyz="0 0 1"/>
    <limit effort="100" velocity="100" lower="-1.91986" upper="0.0872665"/>
    <joint_properties friction="0.1"/>
  </joint>
  <!-- Joint from left_wrist_roll to left_hand -->
  <joint name="left_wrist_pitch" type="revolute">
    <origin xyz="-0 -0 0" rpy="0 1.5708 0"/>
    <parent link="left_wrist_roll"/>
    <child link="left_hand"/>
    <axis xyz="0 0 1"/>
    <limit effort="100" velocity="100" lower="-1.5708" upper="1.5708"/>
    <joint_properties friction="0.1"/>
  </joint>
  <!-- Joint from left_wrist_yaw to left_wrist_roll -->
  <joint name="left_wrist_roll" type="revolute">
    <origin xyz="0 0 0" rpy="1.5708 0 -0"/>
    <parent link="left_wrist_yaw"/>
    <child link="left_wrist_roll"/>
    <axis xyz="0 0 1"/>
    <limit effort="100" velocity="100" lower="-0.349066" upper="0.349066"/>
    <joint_properties friction="0.1"/>
  </joint>
  <!-- Joint from left_elbow_pitch to left_wrist_yaw -->
  <joint name="left_wrist_yaw" type="revolute">
    <origin xyz="-0 0.18 0" rpy="-1.5708 0 0"/>
    <parent link="left_elbow_pitch"/>
    <child link="left_wrist_yaw"/>
    <axis xyz="0 0 1"/>
    <limit effort="100" velocity="100" lower="-1.5708" upper="1.5708"/>
    <joint_properties friction="0.1"/>
  </joint>
  <!-- Joint from left_shoulder_yaw to left_elbow_pitch -->
  <joint name="left_elbow_pitch" type="revolute">
    <origin xyz="0 -0 0.2" rpy="1.5708 0 -0"/>
    <parent link="left_shoulder_yaw"/>
    <child link="left_elbow_pitch"/>
    <axis xyz="0 0 1"/>
    <limit effort="100" velocity="100" lower="-2.35619" upper="0"/>
    <joint_properties friction="0.1"/>
  </joint>
  <!-- Joint from left_shoulder_roll to left_shoulder_yaw -->
  <joint name="left_shoulder_yaw" type="revolute">
    <origin xyz="0 0 0" rpy="-1.5708 -1.5708 0"/>
    <parent link="left_shoulder_roll"/>
    <child link="left_shoulder_yaw"/>
    <axis xyz="0 0 1"/>
    <limit effort="100" velocity="100" lower="-1.5708" upper="1.5708"/>
    <joint_properties friction="0.1"/>
  </joint>
  <!-- Joint from left_shoulder_pitch to left_shoulder_roll -->
  <joint name="left_shoulder_roll" type="revolute">
    <origin xyz="0 0 0" rpy="1.5708 -0 1.5708"/>
    <parent link="left_shoulder_pitch"/>
    <child link="left_shoulder_roll"/>
    <axis xyz="0 0 1"/>
    <limit effort="100" velocity="100" lower="-1.74533" upper="1.74533"/>
    <joint_properties friction="0.1"/>
  </joint>
  <!-- Joint from torso to left_shoulder_pitch -->
  <joint name="left_shoulder_pitch" type="revolute">
    <origin xyz="0.09 0.17 0" rpy="-3.14159 -1.5708 0"/>
    <parent link="torso"/>
    <child link="left_shoulder_pitch"/>
    <axis xyz="0 0 1"/>
    <limit effort="100" velocity="100" lower="-3.14159" upper="0.785398"/>
    <joint_properties friction="0.1"/>
  </joint>
  <!-- Link right_shoulder_pitch -->
  <link name="right_shoulder_pitch">
    <inertial>
      <origin xyz="-0 0 0" rpy="0 0 0"/>
      <mass value="0.311646"/>
      <inertia ixx="0.000249317" ixy="-0" ixz="0" iyy="0.000189585" iyz="0" izz="0.000189585"/>
    </inertial>
    <!-- Part right_shoulder_pitch_parts -->
    <visual>
      <origin xyz="-0 0 0" rpy="1.5708 0 -0"/>
      <geometry>
        <mesh filename="../meshes/right_shoulder_pitch_visual.stl"/>
      </geometry>
      <material name="right_shoulder_pitch_parts_material">
        <color rgba="0.231373 0.380392 0.705882 1"/>
      </material>
    </visual>
  </link>
  <!-- Link right_shoulder_roll -->
  <link name="right_shoulder_roll">
    <inertial>
      <origin xyz="0 -0.105 -0" rpy="0 0 0"/>
      <mass value="0.455782"/>
      <inertia ixx="0.000744444" ixy="-0" ixz="-0" iyy="0.000205102" iyz="0" izz="0.000744444"/>
    </inertial>
    <!-- Part right_shoulder_roll_parts -->
    <collision>
      <origin xyz="0 -0.105 -0" rpy="1.5708 -0 -0"/>
      <geometry>
        <cylinder length="0.08" radius="0.03"/>
      </geometry>
    </collision>
    <visual>
      <origin xyz="0 -0.105 -0" rpy="-0 -1.5708 0"/>
      <geometry>
        <mesh filename="../meshes/right_shoulder_roll_visual.stl"/>
      </geometry>
      <material name="right_shoulder_roll_parts_material">
        <color rgba="0.917647 0.917647 0.917647 1"/>
      </material>
    </visual>
  </link>
  <!-- Link right_shoulder_yaw -->
  <link name="right_shoulder_yaw">
    <inertial>
      <origin xyz="-0 -0 0.2" rpy="0 0 0"/>
      <mass value="0.175301"/>
      <inertia ixx="7.59637e-05" ixy="-0" ixz="-0" iyy="7.88854e-05" iyz="-0" izz="7.59637e-05"/>
    </inertial>
    <!-- Part right_shoulder_yaw_parts -->
    <visual>
      <origin xyz="-0 -0 0.2" rpy="-1.5708 -0 0"/>
      <geometry>
        <mesh filename="../meshes/right_shoulder_yaw_visual.stl"/>
      </geometry>
      <material name="right_shoulder_yaw_parts_material">
        <color rgba="0.768627 0.886275 0.952941 1"/>
      </material>
    </visual>
  </link>
  <!-- Link right_elbow_pitch -->
  <link name="right_elbow_pitch">
    <inertial>
      <origin xyz="-0 0.0925 0" rpy="0 0 0"/>
      <mass value="0.304342"/>
      <inertia ixx="0.000443832" ixy="-0" ixz="-0" iyy="9.51068e-05" iyz="0" izz="0.000443832"/>
    </inertial>
    <!-- Part right_elbow_pitch_parts -->
    <collision>
      <origin xyz="-0 0.095 0" rpy="-1.5708 -1.5708 0"/>
      <geometry>
        <cylinder length="0.08" radius="0.025"/>
      </geometry>
    </collision>
    <visual>
      <origin xyz="-0 0.0925 0" rpy="-3.14159 0 -0"/>
      <geometry>
        <mesh filename="../meshes/right_elbow_pitch_visual.stl"/>
      </geometry>
      <material name="right_elbow_pitch_parts_material">
        <color rgba="0.972549 0.529412 0.00392157 1"/>
      </material>
    </visual>
  </link>
  <!-- Link right_wrist_yaw -->
  <link name="right_wrist_yaw">
    <inertial>
      <origin xyz="0 -0 -0" rpy="0 0 0"/>
      <mass value="0.0779115"/>
      <inertia ixx="2.40227e-05" ixy="-0" ixz="-0" iyy="1.55823e-05" iyz="0" izz="2.40227e-05"/>
    </inertial>
    <!-- Part right_wrist_yaw_parts -->
    <visual>
      <origin xyz="0 -0 -0" rpy="-1.5708 0 0"/>
      <geometry>
        <mesh filename="../meshes/right_wrist_yaw_visual.stl"/>
      </geometry>
      <material name="right_wrist_yaw_parts_material">
        <color rgba="0.980392 0.713725 0.00392157 1"/>
      </material>
    </visual>
  </link>
  <!-- Link right_wrist_roll -->
  <link name="right_wrist_roll">
    <inertial>
      <origin xyz="0 -0 -0" rpy="0 0 0"/>
      <mass value="0.0779115"/>
      <inertia ixx="1.55823e-05" ixy="0" ixz="0" iyy="2.40227e-05" iyz="0" izz="2.40227e-05"/>
    </inertial>
    <!-- Part right_wrist_roll_parts -->
    <visual>
      <origin xyz="0 -0 -0" rpy="-3.14159 0 -0"/>
      <geometry>
        <mesh filename="../meshes/right_wrist_roll_visual.stl"/>
      </geometry>
      <material name="right_wrist_roll_parts_material">
        <color rgba="0.498039 0.498039 0.498039 1"/>
      </material>
    </visual>
  </link>
  <!-- Link right_hand -->
  <link name="right_hand">
    <inertial>
      <origin xyz="0 0.0479645 -0.0118716" rpy="0 0 0"/>
      <mass value="0.028365"/>
      <inertia ixx="7.37812e-06" ixy="0" ixz="-0" iyy="5.11736e-06" iyz="2.58217e-07" izz="3.32444e-06"/>
    </inertial>
    <!-- Part right_hand_parts -->
    <collision>
      <origin xyz="0 0.08 0" rpy="1.5708 -0 1.5708"/>
      <geometry>
        <box size="0.1 0.07 0.015"/>
      </geometry>
    </collision>
    <visual>
      <origin xyz="0 0.0479645 -0.0118716" rpy="-3.14159 -1.5708 0"/>
      <geometry>
        <mesh filename="../meshes/right_hand_visual.stl"/>
      </geometry>
      <material name="right_hand_parts_material">
        <color rgba="0.615686 0.811765 0.929412 1"/>
      </material>
    </visual>
  </link>
  <!-- Link right_finger_1_j1 -->
  <link name="right_finger_1_j1">
    <inertial>
      <origin xyz="-0 0.0025 0" rpy="0 0 0"/>
      <mass value="0.000744"/>
      <inertia ixx="1.0478e-08" ixy="0" ixz="0" iyy="1.5128e-08" iyz="-0" izz="7.75e-09"/>
    </inertial>
    <!-- Part right_finger_1_j1_parts -->
    <visual>
      <origin xyz="-0 0.0025 0" rpy="1.5708 -0.785398 1.5708"/>
      <geometry>
        <mesh filename="../meshes/right_finger_1_j1_visual.stl"/>
      </geometry>
      <material name="right_finger_1_j1_parts_material">
        <color rgba="0.498039 0.498039 0.498039 1"/>
      </material>
    </visual>
  </link>
  <!-- Link right_finger_1_j2 -->
  <link name="right_finger_1_j2">
    <inertial>
      <origin xyz="-0 0.01 -0" rpy="0 0 0"/>
      <mass value="0.002976"/>
      <inertia ixx="1.24e-07" ixy="-0" ixz="-0" iyy="6.0512e-08" iyz="-0" izz="1.34912e-07"/>
    </inertial>
    <!-- Part right_finger_1_j2_parts -->
    <visual>
      <origin xyz="-0 0.01 -0" rpy="-0 -0 2.35619"/>
      <geometry>
        <mesh filename="../meshes/right_finger_1_j2_visual.stl"/>
      </geometry>
      <material name="right_finger_1_j2_parts_material">
        <color rgba="0.972549 0.529412 0.00392157 1"/>
      </material>
    </visual>
  </link>
  <!-- Link right_finger_1_j3 -->
  <link name="right_finger_1_j3">
    <inertial>
      <origin xyz="-0 0.01 0" rpy="0 0 0"/>
      <mass value="0.001984"/>
      <inertia ixx="8.2667e-08" ixy="0" ixz="-0" iyy="2.7115e-08" iyz="0" izz="7.6715e-08"/>
    </inertial>
    <!-- Part right_finger_1_j3_parts -->
    <visual>
      <origin xyz="-0 0.01 0" rpy="1.5708 -0.785398 1.5708"/>
      <geometry>
        <mesh filename="../meshes/right_finger_1_j3_visual.stl"/>
      </geometry>
      <material name="right_finger_1_j3_parts_material">
        <color rgba="0.498039 0.498039 0.498039 1"/>
      </material>
    </visual>
  </link>
  <!-- Link right_finger_1_j4 -->
  <link name="right_finger_1_j4">
    <inertial>
      <origin xyz="0.000271318 0.00682171 -0" rpy="0 0 0"/>
      <mass value="0.001333"/>
      <inertia ixx="3.2905e-08" ixy="-2.247e-09" ixz="0" iyy="1.7887e-08" iyz="0" izz="2.8576e-08"/>
    </inertial>
    <!-- Part right_finger_1_j4_parts -->
    <visual>
      <origin xyz="0.000271318 0.00682171 -0" rpy="1.5708 -0.785398 1.5708"/>
      <geometry>
        <mesh filename="../meshes/right_finger_1_j4_visual.stl"/>
      </geometry>
      <material name="right_finger_1_j4_parts_material">
        <color rgba="0.980392 0.713725 0.00392157 1"/>
      </material>
    </visual>
  </link>
  <!-- Joint from right_finger_1_j3 to right_finger_1_j4 -->
  <joint name="right_finger1_j4" type="revolute">
    <origin xyz="0 0.025 -0" rpy="-0 0 -0"/>
    <parent link="right_finger_1_j3"/>
    <child link="right_finger_1_j4"/>
    <axis xyz="0 0 1"/>
    <limit effort="100" velocity="100" lower="-0.0872665" upper="1.91986"/>
    <joint_properties friction="0.1"/>
  </joint>
  <!-- Joint from right_finger_1_j2 to right_finger_1_j3 -->
  <joint name="right_finger1_j3" type="revolute">
    <origin xyz="0 0.025 0" rpy="-0 -1.5708 0"/>
    <parent link="right_finger_1_j2"/>
    <child link="right_finger_1_j3"/>
    <axis xyz="0 0 1"/>
    <limit effort="100" velocity="100" lower="-0.0872665" upper="1.91986"/>
    <joint_properties friction="0.1"/>
  </joint>
  <!-- Joint from right_finger_1_j1 to right_finger_1_j2 -->
  <joint name="right_finger1_j2" type="revolute">
    <origin xyz="-0 0.01 -0" rpy="0 1.5708 0"/>
    <parent link="right_finger_1_j1"/>
    <child link="right_finger_1_j2"/>
    <axis xyz="0 0 1"/>
    <limit effort="100" velocity="100" lower="-0.349066" upper="0.349066"/>
    <joint_properties friction="0.1"/>
  </joint>
  <!-- Joint from right_hand to right_finger_1_j1 -->
  <joint name="right_finger1_j1" type="revolute">
    <origin xyz="0 0.035 0.015" rpy="0.785398 0 0"/>
    <parent link="right_hand"/>
    <child link="right_finger_1_j1"/>
    <axis xyz="0 0 1"/>
    <limit effort="100" velocity="100" lower="-0.0872665" upper="1.91986"/>
    <joint_properties friction="0.1"/>
  </joint>
  <!-- Link right_finger_2_j1 -->
  <link name="right_finger_2_j1">
    <inertial>
      <origin xyz="0 0.0025 0" rpy="0 0 0"/>
      <mass value="0.000496"/>
      <inertia ixx="3.679e-09" ixy="0" ixz="0" iyy="6.779e-09" iyz="0" izz="5.167e-09"/>
    </inertial>
    <!-- Part right_finger_2_j1_parts -->
    <visual>
      <origin xyz="0 0.0025 0" rpy="-3.14159 -1.5708 0"/>
      <geometry>
        <mesh filename="../meshes/right_finger_2_j1_visual.stl"/>
      </geometry>
      <material name="right_finger_2_j1_parts_material">
        <color rgba="0.980392 0.713725 0.00392157 1"/>
      </material>
    </visual>
  </link>
  <!-- Link right_finger_2_j2 -->
  <link name="right_finger_2_j2">
    <inertial>
      <origin xyz="0 0.0125 0" rpy="0 0 0"/>
      <mass value="0.00248"/>
      <inertia ixx="1.49833e-07" ixy="-0" ixz="0" iyy="3.3893e-08" iyz="0" izz="1.42393e-07"/>
    </inertial>
    <!-- Part right_finger_2_j2_parts -->
    <visual>
      <origin xyz="0 0.0125 0" rpy="0 -0 -3.14159"/>
      <geometry>
        <mesh filename="../meshes/right_finger_2_j2_visual.stl"/>
      </geometry>
      <material name="right_finger_2_j2_parts_material">
        <color rgba="0.647059 0.647059 0.647059 1"/>
      </material>
    </visual>
  </link>
  <!-- Link right_finger_2_j3 -->
  <link name="right_finger_2_j3">
    <inertial>
      <origin xyz="0 0.01 -0" rpy="0 0 0"/>
      <mass value="0.0011904"/>
      <inertia ixx="4.3251e-08" ixy="-0" ixz="0" iyy="9.92e-09" iyz="0" izz="4.6029e-08"/>
    </inertial>
    <!-- Part right_finger_2_j3_parts -->
    <visual>
      <origin xyz="0 0.01 -0" rpy="-3.14159 -1.5708 0"/>
      <geometry>
        <mesh filename="../meshes/right_finger_2_j3_visual.stl"/>
      </geometry>
      <material name="right_finger_2_j3_parts_material">
        <color rgba="0.498039 0.498039 0.498039 1"/>
      </material>
    </visual>
  </link>
  <!-- Link right_finger_2_j4 -->
  <link name="right_finger_2_j4">
    <inertial>
      <origin xyz="0.000432099 0.00438272 -0" rpy="0 0 0"/>
      <mass value="0.0004185"/>
      <inertia ixx="3.877e-09" ixy="-6.61e-10" ixz="0" iyy="2.909e-09" iyz="0" izz="5.043e-09"/>
    </inertial>
    <!-- Part right_finger_2_j4_parts -->
    <visual>
      <origin xyz="0.000432099 0.00438272 -0" rpy="-3.14159 -1.5708 0"/>
      <geometry>
        <mesh filename="../meshes/right_finger_2_j4_visual.stl"/>
      </geometry>
      <material name="right_finger_2_j4_parts_material">
        <color rgba="0.980392 0.713725 0.00392157 1"/>
      </material>
    </visual>
  </link>
  <!-- Joint from right_finger_2_j3 to right_finger_2_j4 -->
  <joint name="right_finger2_j4" type="revolute">
    <origin xyz="0 0.025 -0" rpy="0 0 0"/>
    <parent link="right_finger_2_j3"/>
    <child link="right_finger_2_j4"/>
    <axis xyz="0 0 1"/>
    <limit effort="100" velocity="100" lower="-0.0872665" upper="1.91986"/>
    <joint_properties friction="0.1"/>
  </joint>
  <!-- Joint from right_finger_2_j2 to right_finger_2_j3 -->
  <joint name="right_finger2_j3" type="revolute">
    <origin xyz="0 0.03 0" rpy="0 -1.5708 0"/>
    <parent link="right_finger_2_j2"/>
    <child link="right_finger_2_j3"/>
    <axis xyz="0 0 1"/>
    <limit effort="100" velocity="100" lower="-0.0872665" upper="1.91986"/>
    <joint_properties friction="0.1"/>
  </joint>
  <!-- Joint from right_finger_2_j1 to right_finger_2_j2 -->
  <joint name="right_finger2_j2" type="revolute">
    <origin xyz="-0 0.01 -0" rpy="0 1.5708 0"/>
    <parent link="right_finger_2_j1"/>
    <child link="right_finger_2_j2"/>
    <axis xyz="0 0 1"/>
    <limit effort="100" velocity="100" lower="-0.349066" upper="0.349066"/>
    <joint_properties friction="0.1"/>
  </joint>
  <!-- Joint from right_hand to right_finger_2_j1 -->
  <joint name="right_finger2_j1" type="revolute">
    <origin xyz="0 0.07 0.015" rpy="0 0 0"/>
    <parent link="right_hand"/>
    <child link="right_finger_2_j1"/>
    <axis xyz="0 0 1"/>
    <limit effort="100" velocity="100" lower="-0.0872665" upper="1.91986"/>
    <joint_properties friction="0.1"/>
  </joint>
  <!-- Link right_finger_3_j1 -->
  <link name="right_finger_3_j1">
    <inertial>
      <origin xyz="0 0.0025 -0" rpy="0 0 0"/>
      <mass value="0.000496"/>
      <inertia ixx="3.679e-09" ixy="0" ixz="0" iyy="6.779e-09" iyz="-0" izz="5.167e-09"/>
    </inertial>
    <!-- Part right_finger_3_j1_parts -->
    <visual>
      <origin xyz="0 0.0025 -0" rpy="-3.14159 -1.5708 0"/>
      <geometry>
        <mesh filename="../meshes/right_finger_3_j1_visual.stl"/>
      </geometry>
      <material name="right_finger_3_j1_parts_material">
        <color rgba="0.615686 0.811765 0.929412 1"/>
      </material>
    </visual>
  </link>
  <!-- Link right_finger_3_j2 -->
  <link name="right_finger_3_j2">
    <inertial>
      <origin xyz="0 0.015 0" rpy="0 0 0"/>
      <mass value="0.002976"/>
      <inertia ixx="2.48e-07" ixy="-0" ixz="-0" iyy="4.0672e-08" iyz="-0" izz="2.39072e-07"/>
    </inertial>
    <!-- Part right_finger_3_j2_parts -->
    <visual>
      <origin xyz="0 0.015 0" rpy="0 -0 -3.14159"/>
      <geometry>
        <mesh filename="../meshes/right_finger_3_j2_visual.stl"/>
      </geometry>
      <material name="right_finger_3_j2_parts_material">
        <color rgba="0.231373 0.380392 0.705882 1"/>
      </material>
    </visual>
  </link>
  <!-- Link right_finger_3_j3 -->
  <link name="right_finger_3_j3">
    <inertial>
      <origin xyz="0 0.0125 -0" rpy="0 0 0"/>
      <mass value="0.001488"/>
      <inertia ixx="8.1964e-08" ixy="0" ixz="-0" iyy="1.24e-08" iyz="0" izz="8.5436e-08"/>
    </inertial>
    <!-- Part right_finger_3_j3_parts -->
    <visual>
      <origin xyz="0 0.0125 -0" rpy="-3.14159 -1.5708 0"/>
      <geometry>
        <mesh filename="../meshes/right_finger_3_j3_visual.stl"/>
      </geometry>
      <material name="right_finger_3_j3_parts_material">
        <color rgba="0.615686 0.811765 0.929412 1"/>
      </material>
    </visual>
  </link>
  <!-- Link right_finger_3_j4 -->
  <link name="right_finger_3_j4">
    <inertial>
      <origin xyz="0.000432099 0.00438272 -0" rpy="0 0 0"/>
      <mass value="0.0004185"/>
      <inertia ixx="3.877e-09" ixy="-6.61e-10" ixz="-0" iyy="2.909e-09" iyz="-0" izz="5.043e-09"/>
    </inertial>
    <!-- Part right_finger_3_j4_parts -->
    <visual>
      <origin xyz="0.000432099 0.00438272 -0" rpy="-3.14159 -1.5708 0"/>
      <geometry>
        <mesh filename="../meshes/right_finger_3_j4_visual.stl"/>
      </geometry>
      <material name="right_finger_3_j4_parts_material">
        <color rgba="0.647059 0.647059 0.647059 1"/>
      </material>
    </visual>
  </link>
  <!-- Joint from right_finger_3_j3 to right_finger_3_j4 -->
  <joint name="right_finger3_j4" type="revolute">
    <origin xyz="-0 0.03 -0" rpy="0 0 0"/>
    <parent link="right_finger_3_j3"/>
    <child link="right_finger_3_j4"/>
    <axis xyz="0 0 1"/>
    <limit effort="100" velocity="100" lower="-0.0872665" upper="1.91986"/>
    <joint_properties friction="0.1"/>
  </joint>
  <!-- Joint from right_finger_3_j2 to right_finger_3_j3 -->
  <joint name="right_finger3_j3" type="revolute">
    <origin xyz="0 0.035 0" rpy="0 -1.5708 0"/>
    <parent link="right_finger_3_j2"/>
    <child link="right_finger_3_j3"/>
    <axis xyz="0 0 1"/>
    <limit effort="100" velocity="100" lower="-0.0872665" upper="1.91986"/>
    <joint_properties friction="0.1"/>
  </joint>
  <!-- Joint from right_finger_3_j1 to right_finger_3_j2 -->
  <joint name="right_finger3_j2" type="revolute">
    <origin xyz="0 0.01 0" rpy="-0 1.5708 0"/>
    <parent link="right_finger_3_j1"/>
    <child link="right_finger_3_j2"/>
    <axis xyz="0 0 1"/>
    <limit effort="100" velocity="100" lower="-0.349066" upper="0.349066"/>
    <joint_properties friction="0.1"/>
  </joint>
  <!-- Joint from right_hand to right_finger_3_j1 -->
  <joint name="right_finger3_j1" type="revolute">
    <origin xyz="0 0.07 -0" rpy="0 0 -0"/>
    <parent link="right_hand"/>
    <child link="right_finger_3_j1"/>
    <axis xyz="0 0 1"/>
    <limit effort="100" velocity="100" lower="-0.0872665" upper="1.91986"/>
    <joint_properties friction="0.1"/>
  </joint>
  <!-- Link right_finger_4_j1 -->
  <link name="right_finger_4_j1">
    <inertial>
      <origin xyz="-0 0.0025 0" rpy="0 0 0"/>
      <mass value="0.000496"/>
      <inertia ixx="3.679e-09" ixy="0" ixz="0" iyy="6.779e-09" iyz="-0" izz="5.167e-09"/>
    </inertial>
    <!-- Part right_finger_4_j1_parts -->
    <visual>
      <origin xyz="0 0.0025 0" rpy="-3.14159 -1.5708 0"/>
      <geometry>
        <mesh filename="../meshes/right_finger_4_j1_visual.stl"/>
      </geometry>
      <material name="right_finger_4_j1_parts_material">
        <color rgba="0.647059 0.647059 0.647059 1"/>
      </material>
    </visual>
  </link>
  <!-- Link right_finger_4_j2 -->
  <link name="right_finger_4_j2">
    <inertial>
      <origin xyz="0 0.015 0" rpy="0 0 0"/>
      <mass value="0.002976"/>
      <inertia ixx="2.48e-07" ixy="0" ixz="-0" iyy="4.0672e-08" iyz="-0" izz="2.39072e-07"/>
    </inertial>
    <!-- Part right_finger_4_j2_parts -->
    <visual>
      <origin xyz="0 0.015 0" rpy="0 -0 -3.14159"/>
      <geometry>
        <mesh filename="../meshes/right_finger_4_j2_visual.stl"/>
      </geometry>
      <material name="right_finger_4_j2_parts_material">
        <color rgba="0.917647 0.917647 0.917647 1"/>
      </material>
    </visual>
  </link>
  <!-- Link right_finger_4_j3 -->
  <link name="right_finger_4_j3">
    <inertial>
      <origin xyz="0 0.01 -0" rpy="0 0 0"/>
      <mass value="0.0011904"/>
      <inertia ixx="4.3251e-08" ixy="-0" ixz="0" iyy="9.92e-09" iyz="0" izz="4.6029e-08"/>
    </inertial>
    <!-- Part right_finger_4_j3_parts -->
    <visual>
      <origin xyz="0 0.01 -0" rpy="-3.14159 -1.5708 0"/>
      <geometry>
        <mesh filename="../meshes/right_finger_4_j3_visual.stl"/>
      </geometry>
      <material name="right_finger_4_j3_parts_material">
        <color rgba="0.231373 0.380392 0.705882 1"/>
      </material>
    </visual>
  </link>
  <!-- Link right_finger_4_j4 -->
  <link name="right_finger_4_j4">
    <inertial>
      <origin xyz="0.000432099 0.00438272 -0" rpy="0 0 0"/>
      <mass value="0.0004185"/>
      <inertia ixx="3.877e-09" ixy="-6.61e-10" ixz="0" iyy="2.909e-09" iyz="0" izz="5.043e-09"/>
    </inertial>
    <!-- Part right_finger_4_j4_parts -->
    <visual>
      <origin xyz="0.000432099 0.00438272 -0" rpy="-3.14159 -1.5708 0"/>
      <geometry>
        <mesh filename="../meshes/right_finger_4_j4_visual.stl"/>
      </geometry>
      <material name="right_finger_4_j4_parts_material">
        <color rgba="0.917647 0.917647 0.917647 1"/>
      </material>
    </visual>
  </link>
  <!-- Joint from right_finger_4_j3 to right_finger_4_j4 -->
  <joint name="right_finger4_j4" type="revolute">
    <origin xyz="0 0.025 0" rpy="-0 0 0"/>
    <parent link="right_finger_4_j3"/>
    <child link="right_finger_4_j4"/>
    <axis xyz="0 0 1"/>
    <limit effort="100" velocity="100" lower="-0.0872665" upper="1.91986"/>
    <joint_properties friction="0.1"/>
  </joint>
  <!-- Joint from right_finger_4_j2 to right_finger_4_j3 -->
  <joint name="right_finger4_j3" type="revolute">
    <origin xyz="0 0.035 -0" rpy="-0 -1.5708 0"/>
    <parent link="right_finger_4_j2"/>
    <child link="right_finger_4_j3"/>
    <axis xyz="0 0 1"/>
    <limit effort="100" velocity="100" lower="-0.0872665" upper="1.91986"/>
    <joint_properties friction="0.1"/>
  </joint>
  <!-- Joint from right_finger_4_j1 to right_finger_4_j2 -->
  <joint name="right_finger4_j2" type="revolute">
    <origin xyz="0 0.01 0" rpy="-0 1.5708 0"/>
    <parent link="right_finger_4_j1"/>
    <child link="right_finger_4_j2"/>
    <axis xyz="0 0 1"/>
    <limit effort="100" velocity="100" lower="-0.349066" upper="0.349066"/>
    <joint_properties friction="0.1"/>
  </joint>
  <!-- Joint from right_hand to right_finger_4_j1 -->
  <joint name="right_finger4_j1" type="revolute">
    <origin xyz="0 0.07 -0.015" rpy="-0 0 -0"/>
    <parent link="right_hand"/>
    <child link="right_finger_4_j1"/>
    <axis xyz="0 0 1"/>
    <limit effort="100" velocity="100" lower="-0.0872665" upper="1.91986"/>
    <joint_properties friction="0.1"/>
  </joint>
  <!-- Link right_finger_5_j1 -->
  <link name="right_finger_5_j1">
    <inertial>
      <origin xyz="0 0.0025 0" rpy="0 0 0"/>
      <mass value="0.000496"/>
      <inertia ixx="3.679e-09" ixy="-0" ixz="0" iyy="6.779e-09" iyz="0" izz="5.167e-09"/>
    </inertial>
    <!-- Part right_finger_5_j1_parts -->
    <visual>
      <origin xyz="0 0.0025 0" rpy="-3.14159 -1.5708 0"/>
      <geometry>
        <mesh filename="../meshes/right_finger_5_j1_visual.stl"/>
      </geometry>
      <material name="right_finger_5_j1_parts_material">
        <color rgba="0.231373 0.380392 0.705882 1"/>
      </material>
    </visual>
  </link>
  <!-- Link right_finger_5_j2 -->
  <link name="right_finger_5_j2">
    <inertial>
      <origin xyz="0 0.01 0" rpy="0 0 0"/>
      <mass value="0.001984"/>
      <inertia ixx="8.2667e-08" ixy="0" ixz="-0" iyy="2.7115e-08" iyz="0" izz="7.6715e-08"/>
    </inertial>
    <!-- Part right_finger_5_j2_parts -->
    <visual>
      <origin xyz="0 0.01 0" rpy="0 -0 -3.14159"/>
      <geometry>
        <mesh filename="../meshes/right_finger_5_j2_visual.stl"/>
      </geometry>
      <material name="right_finger_5_j2_parts_material">
        <color rgba="0.768627 0.886275 0.952941 1"/>
      </material>
    </visual>
  </link>
  <!-- Link right_finger_5_j3 -->
  <link name="right_finger_5_j3">
    <inertial>
      <origin xyz="0 0.0075 -0" rpy="0 0 0"/>
      <mass value="0.0008928"/>
      <inertia ixx="1.9418e-08" ixy="-0" ixz="-0" iyy="7.44e-09" iyz="0" izz="2.1502e-08"/>
    </inertial>
    <!-- Part right_finger_5_j3_parts -->
    <visual>
      <origin xyz="0 0.0075 -0" rpy="-3.14159 -1.5708 0"/>
      <geometry>
        <mesh filename="../meshes/right_finger_5_j3_visual.stl"/>
      </geometry>
      <material name="right_finger_5_j3_parts_material">
        <color rgba="0.768627 0.886275 0.952941 1"/>
      </material>
    </visual>
  </link>
  <!-- Link right_finger_5_j4 -->
  <link name="right_finger_5_j4">
    <inertial>
      <origin xyz="0.000432099 0.00438272 -0" rpy="0 0 0"/>
      <mass value="0.0004185"/>
      <inertia ixx="3.877e-09" ixy="-6.61e-10" ixz="0" iyy="2.909e-09" iyz="0" izz="5.043e-09"/>
    </inertial>
    <!-- Part right_finger_5_j4_parts -->
    <visual>
      <origin xyz="0.000432099 0.00438272 -0" rpy="-3.14159 -1.5708 0"/>
      <geometry>
        <mesh filename="../meshes/right_finger_5_j4_visual.stl"/>
      </geometry>
      <material name="right_finger_5_j4_parts_material">
        <color rgba="0.972549 0.529412 0.00392157 1"/>
      </material>
    </visual>
  </link>
  <!-- Joint from right_finger_5_j3 to right_finger_5_j4 -->
  <joint name="right_finger5_j4" type="revolute">
    <origin xyz="-0 0.02 0" rpy="0 0 0"/>
    <parent link="right_finger_5_j3"/>
    <child link="right_finger_5_j4"/>
    <axis xyz="0 0 1"/>
    <limit effort="100" velocity="100" lower="-0.0872665" upper="1.91986"/>
    <joint_properties friction="0.1"/>
  </joint>
  <!-- Joint from right_finger_5_j2 to right_finger_5_j3 -->
  <joint name="right_finger5_j3" type="revolute">
    <origin xyz="0 0.025 -0" rpy="-0 -1.5708 0"/>
    <parent link="right_finger_5_j2"/>
    <child link="right_finger_5_j3"/>
    <axis xyz="0 0 1"/>
    <limit effort="100" velocity="100" lower="-0.0872665" upper="1.91986"/>
    <joint_properties friction="0.1"/>
  </joint>
  <!-- Joint from right_finger_5_j1 to right_finger_5_j2 -->
  <joint name="right_finger5_j2" type="revolute">
    <origin xyz="0 0.01 -0" rpy="-0 1.5708 0"/>
    <parent link="right_finger_5_j1"/>
    <child link="right_finger_5_j2"/>
    <axis xyz="0 0 1"/>
    <limit effort="100" velocity="100" lower="-0.349066" upper="0.349066"/>
    <joint_properties friction="0.1"/>
  </joint>
  <!-- Joint from right_hand to right_finger_5_j1 -->
  <joint name="right_finger5_j1" type="revolute">
    <origin xyz="0 0.07 -0.03" rpy="0 0 -0"/>
    <parent link="right_hand"/>
    <child link="right_finger_5_j1"/>
    <axis xyz="0 0 1"/>
    <limit effort="100" velocity="100" lower="-0.0872665" upper="1.91986"/>
    <joint_properties friction="0.1"/>
  </joint>
  <!-- Joint from right_wrist_roll to right_hand -->
  <joint name="right_wrist_pitch" type="revolute">
    <origin xyz="0 0 0" rpy="0 1.5708 0"/>
    <parent link="right_wrist_roll"/>
    <child link="right_hand"/>
    <axis xyz="0 0 1"/>
    <limit effort="100" velocity="100" lower="-1.5708" upper="1.5708"/>
    <joint_properties friction="0.1"/>
  </joint>
  <!-- Joint from right_wrist_yaw to right_wrist_roll -->
  <joint name="right_wrist_roll" type="revolute">
    <origin xyz="-0 0 0" rpy="1.5708 0 0"/>
    <parent link="right_wrist_yaw"/>
    <child link="right_wrist_roll"/>
    <axis xyz="0 0 1"/>
    <limit effort="100" velocity="100" lower="-0.349066" upper="0.349066"/>
    <joint_properties friction="0.1"/>
  </joint>
  <!-- Joint from right_elbow_pitch to right_wrist_yaw -->
  <joint name="right_wrist_yaw" type="revolute">
    <origin xyz="0 0.18 0" rpy="-1.5708 -0 -0"/>
    <parent link="right_elbow_pitch"/>
    <child link="right_wrist_yaw"/>
    <axis xyz="0 0 1"/>
    <limit effort="100" velocity="100" lower="-1.5708" upper="1.5708"/>
    <joint_properties friction="0.1"/>
  </joint>
  <!-- Joint from right_shoulder_yaw to right_elbow_pitch -->
  <joint name="right_elbow_pitch" type="revolute">
    <origin xyz="-0 -0 0.2" rpy="1.5708 -0 -0"/>
    <parent link="right_shoulder_yaw"/>
    <child link="right_elbow_pitch"/>
    <axis xyz="0 0 1"/>
    <limit effort="100" velocity="100" lower="-2.35619" upper="0"/>
    <joint_properties friction="0.1"/>
  </joint>
  <!-- Joint from right_shoulder_roll to right_shoulder_yaw -->
  <joint name="right_shoulder_yaw" type="revolute">
    <origin xyz="0 0 0" rpy="1.5708 -1.5708 0"/>
    <parent link="right_shoulder_roll"/>
    <child link="right_shoulder_yaw"/>
    <axis xyz="0 0 1"/>
    <limit effort="100" velocity="100" lower="-1.5708" upper="1.5708"/>
    <joint_properties friction="0.1"/>
  </joint>
  <!-- Joint from right_shoulder_pitch to right_shoulder_roll -->
  <joint name="right_shoulder_roll" type="revolute">
    <origin xyz="-0 0 0" rpy="1.5708 -0 1.5708"/>
    <parent link="right_shoulder_pitch"/>
    <child link="right_shoulder_roll"/>
    <axis xyz="0 0 1"/>
    <limit effort="100" velocity="100" lower="-1.74533" upper="1.74533"/>
    <joint_properties friction="0.1"/>
  </joint>
  <!-- Joint from torso to right_shoulder_pitch -->
  <joint name="right_shoulder_pitch" type="revolute">
    <origin xyz="-0.09 0.17 -0" rpy="-3.14159 -1.5708 0"/>
    <parent link="torso"/>
    <child link="right_shoulder_pitch"/>
    <axis xyz="0 0 1"/>
    <limit effort="100" velocity="100" lower="-3.14159" upper="0.785398"/>
    <joint_properties friction="0.1"/>
  </joint>
  <!-- Link neck_yaw -->
  <link name="neck_yaw">
    <inertial>
      <origin xyz="-0 -0 0.04" rpy="0 0 0"/>
      <mass value="0.0779115"/>
      <inertia ixx="1.55823e-05" ixy="0" ixz="-0" iyy="2.40227e-05" iyz="0" izz="2.40227e-05"/>
    </inertial>
    <!-- Part neck_yaw_parts -->
    <visual>
      <origin xyz="-0 -0 0.04" rpy="0 0 -0"/>
      <geometry>
        <mesh filename="../meshes/neck_yaw_visual.stl"/>
      </geometry>
      <material name="neck_yaw_parts_material">
        <color rgba="0.647059 0.647059 0.647059 1"/>
      </material>
    </visual>
  </link>
  <!-- Link neck_roll -->
  <link name="neck_roll">
    <inertial>
      <origin xyz="-0 0.04 -0" rpy="0 0 0"/>
      <mass value="0.0779115"/>
      <inertia ixx="1.55823e-05" ixy="-0" ixz="0" iyy="2.40227e-05" iyz="-0" izz="2.40227e-05"/>
    </inertial>
    <!-- Part neck_roll_parts -->
    <visual>
      <origin xyz="-0 0.04 -0" rpy="-1.5708 -1.5708 0"/>
      <geometry>
        <mesh filename="../meshes/neck_roll_visual.stl"/>
      </geometry>
      <material name="neck_roll_parts_material">
        <color rgba="0.231373 0.380392 0.705882 1"/>
      </material>
    </visual>
  </link>
  <!-- Link head -->
  <link name="head">
    <inertial>
      <origin xyz="-0.00171328 0.0447946 -0" rpy="0 0 0"/>
      <mass value="4.83041"/>
      <inertia ixx="0.0191927" ixy="-8.25886e-05" ixz="0" iyy="0.0170256" iyz="0" izz="0.0196608"/>
    </inertial>
    <!-- Part head_parts -->
    <collision>
      <origin xyz="0 0.04 -0" rpy="-1.5708 1.5708 0"/>
      <geometry>
        <cylinder length="0.03" radius="0.09"/>
      </geometry>
    </collision>
    <visual>
      <origin xyz="-0.00171328 0.0447946 -0" rpy="1.5708 0 3.14159"/>
      <geometry>
        <mesh filename="../meshes/head_visual.stl"/>
      </geometry>
      <material name="head_parts_material">
        <color rgba="0.917647 0.917647 0.917647 1"/>
      </material>
    </visual>
  </link>
  <!-- Joint from neck_roll to head -->
  <joint name="neck_pitch" type="revolute">
    <origin xyz="-0 0.04 0" rpy="-0 1.5708 0"/>
    <parent link="neck_roll"/>
    <child link="head"/>
    <axis xyz="0 0 1"/>
    <limit effort="100" velocity="100" lower="-0.523599" upper="0.523599"/>
    <joint_properties friction="0.1"/>
  </joint>
  <!-- Joint from neck_yaw to neck_roll -->
  <joint name="neck_roll" type="revolute">
    <origin xyz="-0 0 0.04" rpy="1.5708 -0 1.5708"/>
    <parent link="neck_yaw"/>
    <child link="neck_roll"/>
    <axis xyz="0 0 1"/>
    <limit effort="100" velocity="100" lower="-0.523599" upper="0.523599"/>
    <joint_properties friction="0.1"/>
  </joint>
  <!-- Joint from torso to neck_yaw -->
  <joint name="neck_yaw" type="revolute">
    <origin xyz="-0 0.23 0" rpy="-1.5708 -1.5708 0"/>
    <parent link="torso"/>
    <child link="neck_yaw"/>
    <axis xyz="0 0 1"/>
    <limit effort="100" velocity="100" lower="-0.785398" upper="0.785398"/>
    <joint_properties friction="0.1"/>
  </joint>
  <!-- Joint from waist_pitch to torso -->
  <joint name="waist_roll" type="revolute">
    <origin xyz="-0 0.09 -0" rpy="0 -1.5708 0"/>
    <parent link="waist_pitch"/>
    <child link="torso"/>
    <axis xyz="0 0 1"/>
    <limit effort="100" velocity="100" lower="-1.0472" upper="1.0472"/>
    <joint_properties friction="0.1"/>
  </joint>
  <!-- Joint from waist_yaw to waist_pitch -->
  <joint name="waist_pitch" type="revolute">
    <origin xyz="0 -0 0" rpy="1.5708 0 3.14159"/>
    <parent link="waist_yaw"/>
    <child link="waist_pitch"/>
    <axis xyz="0 0 1"/>
    <limit effort="100" velocity="100" lower="-0.785398" upper="1.5708"/>
    <joint_properties friction="0.1"/>
  </joint>
  <!-- Joint from pelvis to waist_yaw -->
  <joint name="waist_yaw" type="revolute">
    <origin xyz="0 -0 0.12" rpy="-0 -0 0"/>
    <parent link="pelvis"/>
    <child link="waist_yaw"/>
    <axis xyz="0 0 1"/>
    <limit effort="100" velocity="100" lower="-1.5708" upper="1.5708"/>
    <joint_properties friction="0.1"/>
  </joint>
</robot>
